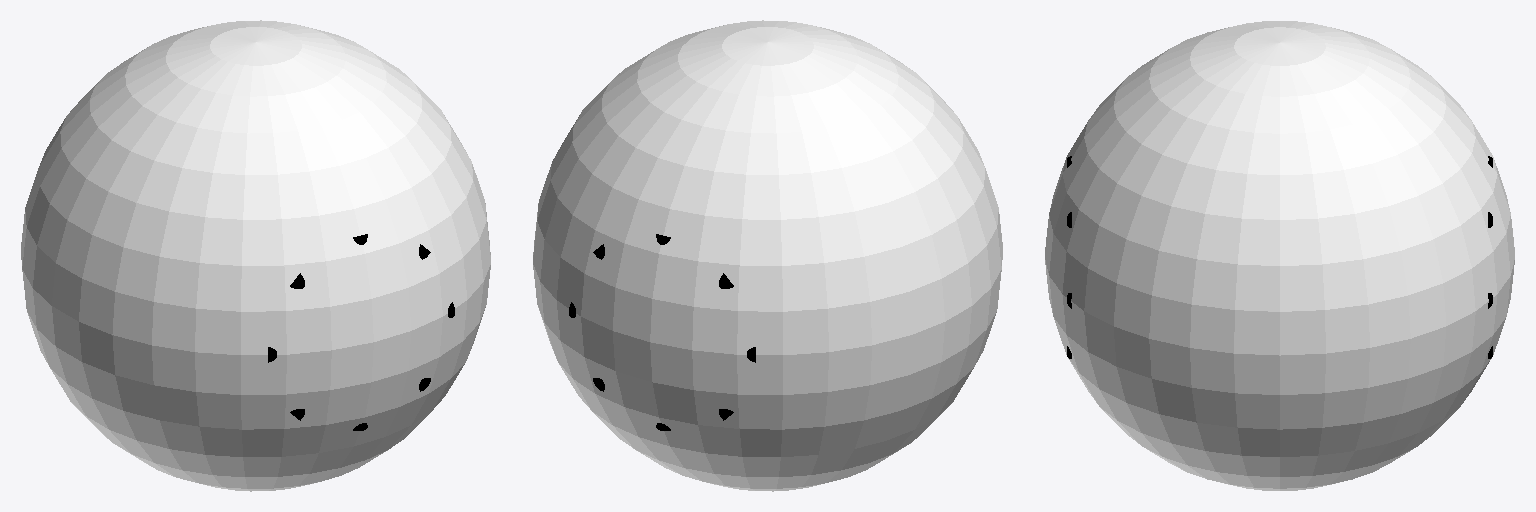
--- What the picture shows (computed from the rendered views, not written in the file) ---
Views: 3 orthographic renders of the robot side by side, from view 1: azimuth 30°, elevation 25°; view 2: azimuth 150°, elevation 25°; view 3: azimuth 270°, elevation 25°.
Robot: daedalus — 73 links, 72 joints (1 revolute, 2 continuous, 48 prismatic, 21 fixed); root link base_link; default pose: all joints at 0.
Visible links, largest first — view 1: sphere; view 2: sphere; view 3: sphere.
Link boxes in pixels (x1,y1,x2,y2): sphere: [21, 20, 490, 491]; sphere: [533, 20, 1002, 491]; sphere: [1045, 21, 1514, 490].
Size in the robot's own frame: 0.464 by 0.464 by 0.464 metres.
Geometry: primitives only (box / cylinder / sphere), no mesh files.

The robot description file, URDF, robot "daedalus":
<?xml version="1.0" ?>
<!-- =================================================================================== -->
<!-- |    This document was autogenerated by xacro from temp.urdf.xacro                | -->
<!-- |    EDITING THIS FILE BY HAND IS NOT RECOMMENDED                                 | -->
<!-- =================================================================================== -->
<robot name="daedalus">
  <self_collide>false</self_collide>
  <!--Define some parameters -->
  <material name="white">
    <color rgba="1 1 1 0.2"/>
  </material>
  <material name="blue">
    <color rgba="0 0 0.8 0.1"/>
  </material>
  <material name="black">
    <color rgba="0 0 0 1"/>
  </material>
  <!--The sphere -->
  <link name="base_link">
    <!--visual>
      <geometry>
        <cylinder radius="0.12" length="0.4"/>
      </geometry>
      <origin rpy="${pi/2.0} 0 0" xyz="0 0 0"/>
      <material name="blue"/>
    </visual-->
    <!--collision>
      <geometry>
        <sphere radius="0.464"/>
      </geometry>
    </collision-->
  </link>
  <link name="sphere">
    <visual>
      <geometry>
        <sphere radius="0.232"/>
      </geometry>
      <material name="white"/>
    </visual>
    <collision>
      <geometry>
        <sphere radius="0.232"/>
      </geometry>
    </collision>
    <inertial>
      <mass value="3"/>
      <inertia ixx="0.10764800000000001" ixy="0.0" ixz="0.0" iyy="0.10764800000000001" iyz="0.0" izz="0.10764800000000001"/>
    </inertial>
  </link>
  <gazebo reference="sphere">
    <mu1 value="200.0"/>
    <mu2 value="100.0"/>
    <kp value="10000000.0"/>
    <kd value="1.0"/>
    <material>Gazebo/GreyTransparent</material>
  </gazebo>
  <link name="filler_link">
    <visual>
      <geometry>
        <!--cylinder radius="0.12" length="0.4"/-->
        <box size=".2 .38 .1"/>
      </geometry>
      <origin rpy="0 0 0" xyz="0 0 0"/>
      <material name="blue"/>
    </visual>
    <inertial>
      <mass value="1"/>
      <inertia ixx=".0145" ixy="0.0" ixz="0" iyy=".0181" iyz="0.0" izz=".006"/>
    </inertial>
  </link>
  <link name="baseplate">
    <visual>
      <geometry>
        <!--cylinder radius="0.12" length="0.4"/-->
        <box size=".2 .38 .1"/>
      </geometry>
      <origin rpy="0 0 0" xyz="0 0 0"/>
      <material name="blue"/>
    </visual>
    <inertial>
      <mass value="30"/>
      <inertia ixx="0.436" ixy="0.0" ixz="0" iyy="0.544" iyz="0.0" izz="0.18"/>
    </inertial>
  </link>
  <joint name="temp_cyl_1" type="continuous">
    <parent link="filler_link"/>
    <child link="inner_outer_connector_right"/>
    <axis rpy="0 0 0" xyz="0 1 0"/>
    <origin xyz="0 0.2 0"/>
    <limit effort="20.0" velocity="10.0"/>
    <joint_properties damping="1000.0" friction="1000.0"/>
    <dynamics damping="100.0" friction="200.0"/>
  </joint>
  <joint name="temp_cyl_2" type="continuous">
    <parent link="filler_link"/>
    <child link="inner_outer_connector_left"/>
    <axis rpy="0 0 0" xyz="0 1 0"/>
    <origin xyz="0 -0.2 0"/>
    <limit effort="20.0" velocity="10.0"/>
    <joint_properties damping="1000.0" friction="1000.0"/>
    <dynamics damping="100.0" friction="200.0"/>
  </joint>
  <joint name="filler" type="fixed">
    <parent link="base_link"/>
    <child link="filler_link"/>
    <origin xyz="0 0 0"/>
  </joint>
  <joint name="base_joint" type="fixed">
    <parent link="base_link"/>
    <child link="baseplate"/>
    <origin xyz="0 0 0"/>
  </joint>
  <transmission name="temp_cyl_1">
    <type>transmission_interface/SimpleTransmission</type>
    <actuator name="$temp_cyl_1">
      <mechanicalReduction>1</mechanicalReduction>
    </actuator>
    <joint name="temp_cyl_1">
      <hardwareInterface>hardware_interface/VelocityJointInterface</hardwareInterface>
    </joint>
  </transmission>
  <transmission name="temp_cyl_2">
    <type>transmission_interface/SimpleTransmission</type>
    <actuator name="$temp_cyl_2">
      <mechanicalReduction>1</mechanicalReduction>
    </actuator>
    <joint name="temp_cyl_2">
      <hardwareInterface>hardware_interface/VelocityJointInterface</hardwareInterface>
    </joint>
  </transmission>
  <joint name="connector_to_sphere_left" type="fixed">
    <parent link="inner_outer_connector_left"/>
    <child link="sphere"/>
    <origin xyz="0 0.2 0"/>
  </joint>
  <!--joint name="connector_to_sphere_right" type="fixed">
     <parent link="inner_outer_connector_right"/>
     <child link="sphere"/>
     <origin xyz="0 -0.2 0"/>
  </joint-->
  <!--link name="hip_base">
    <visual>
      <geometry>
        <cylinder radius="0.24" length="0.8"/>
      </geometry>
      <origin rpy="${pi/2.0} 0 0" xyz="0 0 0"/>
      <material name="blue"/>
    </visual>
    <inertial>
       <mass value="1"/>
       <inertia ixx="1" ixy="0.0" ixz="0" iyy="1" iyz="0.0" izz=".432"/>
    </inertial>
  </link-->
  <!--joint name="center_to_base" type="continuous">
     <parent link="filler_link"/>
     <child link="sphere"/>
     <axis xyz="0 1 0" rpy="0 0 0"/>
     <limit effort="1000.0" velocity="2.0"/>
     <joint_properties damping="1000.0" friction="1000.0"/>
     <dynamics damping="100.0" friction="200.0"/>
  </joint-->
  <!--transmission name="center_to_base">
    <type>transmission_interface/SimpleTransmission</type>
    <actuator name="$center_to_base">
      <mechanicalReduction>1</mechanicalReduction>
    </actuator>
    <joint name="center_to_base">
      <hardwareInterface>hardware_interface/VelocityJointInterface</hardwareInterface>
    </joint>
  </transmission-->
  <!--The battery -->
  <!--link name="battery_holder_1">
    <visual>
      <geometry>
        <sphere radius="0.04"/>
      </geometry>
      <origin rpy="0 0 0" xyz="0 0 0"/>
      <material name="black"/>
    </visual>
    <collision>
      <geometry>
        <sphere radius="0.04"/>
      </geometry>
    </collision>
    <inertial>
       <mass value="${5.0}"/>
       <inertia ixx="${2.0/3.0*5.0*0.04*0.04}" ixy="0.0" ixz="0.0" iyy="${2.0/3.0*5.0*0.04*0.04}" iyz="0.0" izz="${2.0/3.0*5.0*0.04*0.04}"/>
    </inertial>
  </link-->
  <link name="battery_holder">
    <visual>
      <geometry>
        <cylinder length="0.2" radius="0.01"/>
      </geometry>
      <origin rpy="0 0 0" xyz="0 0 -0.07"/>
      <material name="black"/>
    </visual>
    <collision>
      <geometry>
        <cylinder length="0.2" radius="0.01"/>
      </geometry>
    </collision>
    <inertial>
      <mass value="1"/>
      <inertia ixx="0.019" ixy="0.0" ixz="0.0" iyy="0.019" iyz="0.0" izz="0"/>
    </inertial>
    <!--xacro:default_inertial mass="1"/-->
  </link>
  <link name="battery">
    <visual>
      <geometry>
        <box size="0.1 0.1 0.05"/>
      </geometry>
      <origin rpy="0 0 0" xyz="0 0 0"/>
      <material name="black"/>
    </visual>
    <inertial>
      <mass value="10.0"/>
      <inertia ixx="0.01666666666666667" ixy="0.0" ixz="0.0" iyy="0.01666666666666667" iyz="0.0" izz="0.01041666666666667"/>
    </inertial>
    <collision>
      <geometry>
        <box size="0.1 0.1 0.05"/>
      </geometry>
    </collision>
  </link>
  <joint name="battery_joint" type="fixed">
    <parent link="battery_holder"/>
    <child link="battery"/>
    <origin xyz="0 0 -0.175"/>
  </joint>
  <!--joint name="battery_pitch" type="continuous">
     <axis xyz="0 1 0" rpy="0 0 0"/>
     <parent link="sphere"/>
     <child link="battery_holder_1"/>
     <origin xyz="0 0 0" rpy="0 0 0"/>
     <limit effort="1000.0" velocity="10.0"/>
     <joint_properties damping="1000.0" friction="1000.0"/>
     <dynamics damping="100.0" friction="200.0" />
  </joint-->
  <joint name="battery_yaw" type="revolute">
    <parent link="baseplate"/>
    <axis xyz="1 0 0"/>
    <child link="battery_holder"/>
    <limit effort="1000.0" lower="-0.7853981633974483" upper="0.7853981633974483" velocity="0.5"/>
    <origin xyz="0 0 0"/>
    <joint_properties damping="1000.0" friction="1000.0"/>
    <dynamics damping="100.0" friction="200.0"/>
  </joint>
  <!--transmission name="battery_holder_1_trans">
    <type>transmission_interface/SimpleTransmission</type>
    <actuator name="$battery_holder_1__motor">
      <mechanicalReduction>1</mechanicalReduction>
    </actuator>
    <joint name="battery_pitch">
      <hardwareInterface>hardware_interface/VelocityJointInterface</hardwareInterface>
    </joint>
  </transmission-->
  <transmission name="battery_holder_trans">
    <type>transmission_interface/SimpleTransmission</type>
    <actuator name="$battery_holder__motor">
      <mechanicalReduction>1</mechanicalReduction>
    </actuator>
    <joint name="battery_yaw">
      <hardwareInterface>hardware_interface/PositionJointInterface</hardwareInterface>
    </joint>
  </transmission>
  <link name="inner_outer_connector_right">
    <visual>
      <geometry>
        <cylinder length="0.025" radius="0.05"/>
      </geometry>
      <material name="black"/>
      <origin rpy="1.57 0 0" xyz="0 0 0"/>
    </visual>
    <collision>
      <geometry>
        <cylinder length="0.025" radius="0.05"/>
        <origin rpy="1.57 0 0" xyz="0 0 0"/>
      </geometry>
    </collision>
    <inertial>
      <mass value="0.3"/>
      <!--inertia ixx="0.0008125" ixy="0.0" ixz="0.0" iyy="0.0008125" iyz="0.0" izz="0.0015"/-->
      <inertia ixx="1" ixy="0.0" ixz="0.0" iyy="1" iyz="0.0" izz="1"/>
    </inertial>
  </link>
  <link name="inner_outer_connector_left">
    <visual>
      <geometry>
        <cylinder length="0.025" radius="0.05"/>
      </geometry>
      <material name="black"/>
      <origin rpy="1.57 0 0" xyz="0 0 0"/>
    </visual>
    <collision>
      <geometry>
        <cylinder length="0.025" radius="0.05"/>
        <origin rpy="1.57 0 0" xyz="0 0 0"/>
      </geometry>
    </collision>
    <inertial>
      <mass value="0.3"/>
      <!--inertia ixx="0.0008125" ixy="0.0" ixz="0.0" iyy="0.0008125" iyz="0.0" izz="0.0015"/-->
      <inertia ixx="1" ixy="0.0" ixz="0.0" iyy="1" iyz="0.0" izz="1"/>
    </inertial>
  </link>
  <!--The rods -->
  <link name="hip_right_0">
    <visual>
      <geometry>
        <cylinder length="0.07" radius="0.01"/>
      </geometry>
      <material name="black"/>
    </visual>
    <collision>
      <geometry>
        <cylinder length="0.07" radius="0.01"/>
      </geometry>
    </collision>
    <inertial>
      <mass value="0.01"/>
      <inertia ixx="4.083333333333334e-06" ixy="0.0" ixz="0.0" iyy="0.0" iyz="0.0" izz="4.083333333333334e-06"/>
    </inertial>
  </link>
  <link name="outer_leg_right_0">
    <visual>
      <geometry>
        <cylinder length="0.07" radius="0.008"/>
      </geometry>
      <material name="black"/>
    </visual>
    <collision>
      <geometry>
        <cylinder length="0.07" radius="0.008"/>
      </geometry>
    </collision>
    <inertial>
      <mass value="0.008"/>
      <inertia ixx="3.2666666666666674e-06" ixy="0.0" ixz="0.0" iyy="0.0" iyz="0.0" izz="3.2666666666666674e-06"/>
    </inertial>
  </link>
  <link name="center_leg_right_0">
    <visual>
      <geometry>
        <cylinder length="0.07" radius="0.006"/>
      </geometry>
      <material name="black"/>
    </visual>
    <collision>
      <geometry>
        <cylinder length="0.07" radius="0.006"/>
      </geometry>
    </collision>
    <inertial>
      <mass value="0.006"/>
      <inertia ixx="2.45e-06" ixy="0.0" ixz="0.0" iyy="2.45e-06" iyz="0.0" izz="0.0"/>
    </inertial>
  </link>
  <link name="inner_leg_right_0">
    <visual>
      <geometry>
        <cylinder length="0.07" radius="0.004"/>
      </geometry>
      <material name="black"/>
    </visual>
    <collision>
      <geometry>
        <cylinder length="0.07" radius="0.004"/>
      </geometry>
    </collision>
    <inertial>
      <mass value="0.004"/>
      <inertia ixx="1.6333333333333337e-06" ixy="0.0" ixz="0.0" iyy="1.6333333333333337e-06" iyz="0.0" izz="0.0"/>
    </inertial>
  </link>
  <joint name="base_to_hip_right_0" type="fixed">
    <parent link="inner_outer_connector_right"/>
    <child link="hip_right_0"/>
    <origin rpy="0 0.0 0" xyz="0.0 0 0.07"/>
  </joint>
  <!--
    <joint name="outer_to_center_leg_${prefix}" type="fixed">
       <parent link="outer_leg_${prefix}"/>
       <child link="center_leg_${prefix}"/>
       <origin xyz="0 0 0.02"/>
    </joint>
    <joint name="center_to_inner_leg_${prefix}" type="fixed">
       <parent link="center_leg_${prefix}"/>
       <child link="inner_leg_${prefix}"/>
       <origin xyz="0 0 0.02"/>
    </joint>
    -->
  <joint name="hip_to_outer_leg_right_0" type="prismatic">
    <axis xyz="0 0 1"/>
    <parent link="hip_right_0"/>
    <child link="outer_leg_right_0"/>
    <limit effort="200.0" lower="0.0" upper="0.07" velocity="0.1"/>
    <origin rpy="0 0 0" xyz="0 0 0"/>
    <dynamics damping="100.0" friction="200.0"/>
  </joint>
  <joint name="outer_to_center_leg_right_0" type="prismatic">
    <axis xyz="0 0 1"/>
    <parent link="outer_leg_right_0"/>
    <child link="center_leg_right_0"/>
    <limit effort="2000.0" lower="0.0" upper="0.07" velocity="0.1"/>
    <origin rpy="0 0 0" xyz="0 0 0"/>
    <dynamics damping="100.0" friction="200.0"/>
  </joint>
  <joint name="center_to_inner_leg_right_0" type="prismatic">
    <axis xyz="0 0 1"/>
    <parent link="center_leg_right_0"/>
    <child link="inner_leg_right_0"/>
    <limit effort="2000.0" lower="0.0" upper="0.07" velocity="0.1"/>
    <origin rpy="0 0 0" xyz="0 0 0"/>
    <dynamics damping="100.0" friction="200.0"/>
  </joint>
  <!--transmission name="base_to_hip_${prefix}">
      <type>transmission_interface/SimpleTransmission</type>
      <actuator name="$base_to_hip_${prefix}">
        <mechanicalReduction>1</mechanicalReduction>
      </actuator>
      <joint name="base_to_hip_${prefix}">
        <hardwareInterface>hardware_interface/VelocityJointInterface</hardwareInterface>
      </joint>
    </transmission-->
  <transmission name="outer_leg_extension_right_0_trans" type="SimpleTransmission">
    <type>transmission_interface/SimpleTransmission</type>
    <actuator name="outer_leg_extension_right_0_motor">
      <hardwareInterface>hardware_interface/PositionJointInterface</hardwareInterface>
      <mechanicalReduction>1</mechanicalReduction>
    </actuator>
    <joint name="hip_to_outer_leg_right_0">
      <hardwareInterface>hardware_interface/PositionJointInterface</hardwareInterface>
    </joint>
  </transmission>
  <transmission name="center_leg_extension_right_0_trans" type="SimpleTransmission">
    <type>transmission_interface/SimpleTransmission</type>
    <actuator name="center_leg_extension_right_0_motor">
      <hardwareInterface>hardware_interface/PositionJointInterface</hardwareInterface>
      <mechanicalReduction>1</mechanicalReduction>
    </actuator>
    <joint name="outer_to_center_leg_right_0">
      <hardwareInterface>hardware_interface/PositionJointInterface</hardwareInterface>
    </joint>
  </transmission>
  <transmission name="inner_leg_extension_right_0_trans" type="SimpleTransmission">
    <type>transmission_interface/SimpleTransmission</type>
    <actuator name="inner_leg_extension_right_0_motor">
      <hardwareInterface>hardware_interface/PositionJointInterface</hardwareInterface>
      <mechanicalReduction>1</mechanicalReduction>
    </actuator>
    <joint name="center_to_inner_leg_right_0">
      <hardwareInterface>hardware_interface/PositionJointInterface</hardwareInterface>
    </joint>
  </transmission>
  <link name="hip_right_2">
    <visual>
      <geometry>
        <cylinder length="0.07" radius="0.01"/>
      </geometry>
      <material name="black"/>
    </visual>
    <collision>
      <geometry>
        <cylinder length="0.07" radius="0.01"/>
      </geometry>
    </collision>
    <inertial>
      <mass value="0.01"/>
      <inertia ixx="4.083333333333334e-06" ixy="0.0" ixz="0.0" iyy="0.0" iyz="0.0" izz="4.083333333333334e-06"/>
    </inertial>
  </link>
  <link name="outer_leg_right_2">
    <visual>
      <geometry>
        <cylinder length="0.07" radius="0.008"/>
      </geometry>
      <material name="black"/>
    </visual>
    <collision>
      <geometry>
        <cylinder length="0.07" radius="0.008"/>
      </geometry>
    </collision>
    <inertial>
      <mass value="0.008"/>
      <inertia ixx="3.2666666666666674e-06" ixy="0.0" ixz="0.0" iyy="0.0" iyz="0.0" izz="3.2666666666666674e-06"/>
    </inertial>
  </link>
  <link name="center_leg_right_2">
    <visual>
      <geometry>
        <cylinder length="0.07" radius="0.006"/>
      </geometry>
      <material name="black"/>
    </visual>
    <collision>
      <geometry>
        <cylinder length="0.07" radius="0.006"/>
      </geometry>
    </collision>
    <inertial>
      <mass value="0.006"/>
      <inertia ixx="2.45e-06" ixy="0.0" ixz="0.0" iyy="2.45e-06" iyz="0.0" izz="0.0"/>
    </inertial>
  </link>
  <link name="inner_leg_right_2">
    <visual>
      <geometry>
        <cylinder length="0.07" radius="0.004"/>
      </geometry>
      <material name="black"/>
    </visual>
    <collision>
      <geometry>
        <cylinder length="0.07" radius="0.004"/>
      </geometry>
    </collision>
    <inertial>
      <mass value="0.004"/>
      <inertia ixx="1.6333333333333337e-06" ixy="0.0" ixz="0.0" iyy="1.6333333333333337e-06" iyz="0.0" izz="0.0"/>
    </inertial>
  </link>
  <joint name="base_to_hip_right_2" type="fixed">
    <parent link="inner_outer_connector_right"/>
    <child link="hip_right_2"/>
    <origin rpy="0 1.5707963267948966 0" xyz="0.07 0 4.286263797015737e-18"/>
  </joint>
  <!--
    <joint name="outer_to_center_leg_${prefix}" type="fixed">
       <parent link="outer_leg_${prefix}"/>
       <child link="center_leg_${prefix}"/>
       <origin xyz="0 0 0.02"/>
    </joint>
    <joint name="center_to_inner_leg_${prefix}" type="fixed">
       <parent link="center_leg_${prefix}"/>
       <child link="inner_leg_${prefix}"/>
       <origin xyz="0 0 0.02"/>
    </joint>
    -->
  <joint name="hip_to_outer_leg_right_2" type="prismatic">
    <axis xyz="0 0 1"/>
    <parent link="hip_right_2"/>
    <child link="outer_leg_right_2"/>
    <limit effort="200.0" lower="0.0" upper="0.07" velocity="0.1"/>
    <origin rpy="0 0 0" xyz="0 0 0"/>
    <dynamics damping="100.0" friction="200.0"/>
  </joint>
  <joint name="outer_to_center_leg_right_2" type="prismatic">
    <axis xyz="0 0 1"/>
    <parent link="outer_leg_right_2"/>
    <child link="center_leg_right_2"/>
    <limit effort="2000.0" lower="0.0" upper="0.07" velocity="0.1"/>
    <origin rpy="0 0 0" xyz="0 0 0"/>
    <dynamics damping="100.0" friction="200.0"/>
  </joint>
  <joint name="center_to_inner_leg_right_2" type="prismatic">
    <axis xyz="0 0 1"/>
    <parent link="center_leg_right_2"/>
    <child link="inner_leg_right_2"/>
    <limit effort="2000.0" lower="0.0" upper="0.07" velocity="0.1"/>
    <origin rpy="0 0 0" xyz="0 0 0"/>
    <dynamics damping="100.0" friction="200.0"/>
  </joint>
  <!--transmission name="base_to_hip_${prefix}">
      <type>transmission_interface/SimpleTransmission</type>
      <actuator name="$base_to_hip_${prefix}">
        <mechanicalReduction>1</mechanicalReduction>
      </actuator>
      <joint name="base_to_hip_${prefix}">
        <hardwareInterface>hardware_interface/VelocityJointInterface</hardwareInterface>
      </joint>
    </transmission-->
  <transmission name="outer_leg_extension_right_2_trans" type="SimpleTransmission">
    <type>transmission_interface/SimpleTransmission</type>
    <actuator name="outer_leg_extension_right_2_motor">
      <hardwareInterface>hardware_interface/PositionJointInterface</hardwareInterface>
      <mechanicalReduction>1</mechanicalReduction>
    </actuator>
    <joint name="hip_to_outer_leg_right_2">
      <hardwareInterface>hardware_interface/PositionJointInterface</hardwareInterface>
    </joint>
  </transmission>
  <transmission name="center_leg_extension_right_2_trans" type="SimpleTransmission">
    <type>transmission_interface/SimpleTransmission</type>
    <actuator name="center_leg_extension_right_2_motor">
      <hardwareInterface>hardware_interface/PositionJointInterface</hardwareInterface>
      <mechanicalReduction>1</mechanicalReduction>
    </actuator>
    <joint name="outer_to_center_leg_right_2">
      <hardwareInterface>hardware_interface/PositionJointInterface</hardwareInterface>
    </joint>
  </transmission>
  <transmission name="inner_leg_extension_right_2_trans" type="SimpleTransmission">
    <type>transmission_interface/SimpleTransmission</type>
    <actuator name="inner_leg_extension_right_2_motor">
      <hardwareInterface>hardware_interface/PositionJointInterface</hardwareInterface>
      <mechanicalReduction>1</mechanicalReduction>
    </actuator>
    <joint name="center_to_inner_leg_right_2">
      <hardwareInterface>hardware_interface/PositionJointInterface</hardwareInterface>
    </joint>
  </transmission>
  <link name="hip_right_4">
    <visual>
      <geometry>
        <cylinder length="0.07" radius="0.01"/>
      </geometry>
      <material name="black"/>
    </visual>
    <collision>
      <geometry>
        <cylinder length="0.07" radius="0.01"/>
      </geometry>
    </collision>
    <inertial>
      <mass value="0.01"/>
      <inertia ixx="4.083333333333334e-06" ixy="0.0" ixz="0.0" iyy="0.0" iyz="0.0" izz="4.083333333333334e-06"/>
    </inertial>
  </link>
  <link name="outer_leg_right_4">
    <visual>
      <geometry>
        <cylinder length="0.07" radius="0.008"/>
      </geometry>
      <material name="black"/>
    </visual>
    <collision>
      <geometry>
        <cylinder length="0.07" radius="0.008"/>
      </geometry>
    </collision>
    <inertial>
      <mass value="0.008"/>
      <inertia ixx="3.2666666666666674e-06" ixy="0.0" ixz="0.0" iyy="0.0" iyz="0.0" izz="3.2666666666666674e-06"/>
    </inertial>
  </link>
  <link name="center_leg_right_4">
    <visual>
      <geometry>
        <cylinder length="0.07" radius="0.006"/>
      </geometry>
      <material name="black"/>
    </visual>
    <collision>
      <geometry>
        <cylinder length="0.07" radius="0.006"/>
      </geometry>
    </collision>
    <inertial>
      <mass value="0.006"/>
      <inertia ixx="2.45e-06" ixy="0.0" ixz="0.0" iyy="2.45e-06" iyz="0.0" izz="0.0"/>
    </inertial>
  </link>
  <link name="inner_leg_right_4">
    <visual>
      <geometry>
        <cylinder length="0.07" radius="0.004"/>
      </geometry>
      <material name="black"/>
    </visual>
    <collision>
      <geometry>
        <cylinder length="0.07" radius="0.004"/>
      </geometry>
    </collision>
    <inertial>
      <mass value="0.004"/>
      <inertia ixx="1.6333333333333337e-06" ixy="0.0" ixz="0.0" iyy="1.6333333333333337e-06" iyz="0.0" izz="0.0"/>
    </inertial>
  </link>
  <joint name="base_to_hip_right_4" type="fixed">
    <parent link="inner_outer_connector_right"/>
    <child link="hip_right_4"/>
    <origin rpy="0 3.141592653589793 0" xyz="8.572527594031473e-18 0 -0.07"/>
  </joint>
  <!--
    <joint name="outer_to_center_leg_${prefix}" type="fixed">
       <parent link="outer_leg_${prefix}"/>
       <child link="center_leg_${prefix}"/>
       <origin xyz="0 0 0.02"/>
    </joint>
    <joint name="center_to_inner_leg_${prefix}" type="fixed">
       <parent link="center_leg_${prefix}"/>
       <child link="inner_leg_${prefix}"/>
       <origin xyz="0 0 0.02"/>
    </joint>
    -->
  <joint name="hip_to_outer_leg_right_4" type="prismatic">
    <axis xyz="0 0 1"/>
    <parent link="hip_right_4"/>
    <child link="outer_leg_right_4"/>
    <limit effort="200.0" lower="0.0" upper="0.07" velocity="0.1"/>
    <origin rpy="0 0 0" xyz="0 0 0"/>
    <dynamics damping="100.0" friction="200.0"/>
  </joint>
  <joint name="outer_to_center_leg_right_4" type="prismatic">
    <axis xyz="0 0 1"/>
    <parent link="outer_leg_right_4"/>
    <child link="center_leg_right_4"/>
    <limit effort="2000.0" lower="0.0" upper="0.07" velocity="0.1"/>
    <origin rpy="0 0 0" xyz="0 0 0"/>
    <dynamics damping="100.0" friction="200.0"/>
  </joint>
  <joint name="center_to_inner_leg_right_4" type="prismatic">
    <axis xyz="0 0 1"/>
    <parent link="center_leg_right_4"/>
    <child link="inner_leg_right_4"/>
    <limit effort="2000.0" lower="0.0" upper="0.07" velocity="0.1"/>
    <origin rpy="0 0 0" xyz="0 0 0"/>
    <dynamics damping="100.0" friction="200.0"/>
  </joint>
  <!--transmission name="base_to_hip_${prefix}">
      <type>transmission_interface/SimpleTransmission</type>
      <actuator name="$base_to_hip_${prefix}">
        <mechanicalReduction>1</mechanicalReduction>
      </actuator>
      <joint name="base_to_hip_${prefix}">
        <hardwareInterface>hardware_interface/VelocityJointInterface</hardwareInterface>
      </joint>
    </transmission-->
  <transmission name="outer_leg_extension_right_4_trans" type="SimpleTransmission">
    <type>transmission_interface/SimpleTransmission</type>
    <actuator name="outer_leg_extension_right_4_motor">
      <hardwareInterface>hardware_interface/PositionJointInterface</hardwareInterface>
      <mechanicalReduction>1</mechanicalReduction>
    </actuator>
    <joint name="hip_to_outer_leg_right_4">
      <hardwareInterface>hardware_interface/PositionJointInterface</hardwareInterface>
    </joint>
  </transmission>
  <transmission name="center_leg_extension_right_4_trans" type="SimpleTransmission">
    <type>transmission_interface/SimpleTransmission</type>
    <actuator name="center_leg_extension_right_4_motor">
      <hardwareInterface>hardware_interface/PositionJointInterface</hardwareInterface>
      <mechanicalReduction>1</mechanicalReduction>
    </actuator>
    <joint name="outer_to_center_leg_right_4">
      <hardwareInterface>hardware_interface/PositionJointInterface</hardwareInterface>
    </joint>
  </transmission>
  <transmission name="inner_leg_extension_right_4_trans" type="SimpleTransmission">
    <type>transmission_interface/SimpleTransmission</type>
    <actuator name="inner_leg_extension_right_4_motor">
      <hardwareInterface>hardware_interface/PositionJointInterface</hardwareInterface>
      <mechanicalReduction>1</mechanicalReduction>
    </actuator>
    <joint name="center_to_inner_leg_right_4">
      <hardwareInterface>hardware_interface/PositionJointInterface</hardwareInterface>
    </joint>
  </transmission>
  <link name="hip_right_6">
    <visual>
      <geometry>
        <cylinder length="0.07" radius="0.01"/>
      </geometry>
      <material name="black"/>
    </visual>
    <collision>
      <geometry>
        <cylinder length="0.07" radius="0.01"/>
      </geometry>
    </collision>
    <inertial>
      <mass value="0.01"/>
      <inertia ixx="4.083333333333334e-06" ixy="0.0" ixz="0.0" iyy="0.0" iyz="0.0" izz="4.083333333333334e-06"/>
    </inertial>
  </link>
  <link name="outer_leg_right_6">
    <visual>
      <geometry>
        <cylinder length="0.07" radius="0.008"/>
      </geometry>
      <material name="black"/>
    </visual>
    <collision>
      <geometry>
        <cylinder length="0.07" radius="0.008"/>
      </geometry>
    </collision>
    <inertial>
      <mass value="0.008"/>
      <inertia ixx="3.2666666666666674e-06" ixy="0.0" ixz="0.0" iyy="0.0" iyz="0.0" izz="3.2666666666666674e-06"/>
    </inertial>
  </link>
  <link name="center_leg_right_6">
    <visual>
      <geometry>
        <cylinder length="0.07" radius="0.006"/>
      </geometry>
      <material name="black"/>
    </visual>
    <collision>
      <geometry>
        <cylinder length="0.07" radius="0.006"/>
      </geometry>
    </collision>
    <inertial>
      <mass value="0.006"/>
      <inertia ixx="2.45e-06" ixy="0.0" ixz="0.0" iyy="2.45e-06" iyz="0.0" izz="0.0"/>
    </inertial>
  </link>
  <link name="inner_leg_right_6">
    <visual>
      <geometry>
        <cylinder length="0.07" radius="0.004"/>
      </geometry>
      <material name="black"/>
    </visual>
    <collision>
      <geometry>
        <cylinder length="0.07" radius="0.004"/>
      </geometry>
    </collision>
    <inertial>
      <mass value="0.004"/>
      <inertia ixx="1.6333333333333337e-06" ixy="0.0" ixz="0.0" iyy="1.6333333333333337e-06" iyz="0.0" izz="0.0"/>
    </inertial>
  </link>
  <joint name="base_to_hip_right_6" type="fixed">
    <parent link="inner_outer_connector_right"/>
    <child link="hip_right_6"/>
    <origin rpy="0 4.71238898038469 0" xyz="-0.07 0 -1.285879139104721e-17"/>
  </joint>
  <!--
    <joint name="outer_to_center_leg_${prefix}" type="fixed">
       <parent link="outer_leg_${prefix}"/>
       <child link="center_leg_${prefix}"/>
       <origin xyz="0 0 0.02"/>
    </joint>
    <joint name="center_to_inner_leg_${prefix}" type="fixed">
       <parent link="center_leg_${prefix}"/>
       <child link="inner_leg_${prefix}"/>
       <origin xyz="0 0 0.02"/>
    </joint>
    -->
  <joint name="hip_to_outer_leg_right_6" type="prismatic">
    <axis xyz="0 0 1"/>
    <parent link="hip_right_6"/>
    <child link="outer_leg_right_6"/>
    <limit effort="200.0" lower="0.0" upper="0.07" velocity="0.1"/>
    <origin rpy="0 0 0" xyz="0 0 0"/>
    <dynamics damping="100.0" friction="200.0"/>
  </joint>
  <joint name="outer_to_center_leg_right_6" type="prismatic">
    <axis xyz="0 0 1"/>
    <parent link="outer_leg_right_6"/>
    <child link="center_leg_right_6"/>
    <limit effort="2000.0" lower="0.0" upper="0.07" velocity="0.1"/>
    <origin rpy="0 0 0" xyz="0 0 0"/>
    <dynamics damping="100.0" friction="200.0"/>
  </joint>
  <joint name="center_to_inner_leg_right_6" type="prismatic">
    <axis xyz="0 0 1"/>
    <parent link="center_leg_right_6"/>
    <child link="inner_leg_right_6"/>
    <limit effort="2000.0" lower="0.0" upper="0.07" velocity="0.1"/>
    <origin rpy="0 0 0" xyz="0 0 0"/>
    <dynamics damping="100.0" friction="200.0"/>
  </joint>
  <!--transmission name="base_to_hip_${prefix}">
      <type>transmission_interface/SimpleTransmission</type>
      <actuator name="$base_to_hip_${prefix}">
        <mechanicalReduction>1</mechanicalReduction>
      </actuator>
      <joint name="base_to_hip_${prefix}">
        <hardwareInterface>hardware_interface/VelocityJointInterface</hardwareInterface>
      </joint>
    </transmission-->
  <transmission name="outer_leg_extension_right_6_trans" type="SimpleTransmission">
    <type>transmission_interface/SimpleTransmission</type>
    <actuator name="outer_leg_extension_right_6_motor">
      <hardwareInterface>hardware_interface/PositionJointInterface</hardwareInterface>
      <mechanicalReduction>1</mechanicalReduction>
    </actuator>
    <joint name="hip_to_outer_leg_right_6">
      <hardwareInterface>hardware_interface/PositionJointInterface</hardwareInterface>
    </joint>
  </transmission>
  <transmission name="center_leg_extension_right_6_trans" type="SimpleTransmission">
    <type>transmission_interface/SimpleTransmission</type>
    <actuator name="center_leg_extension_right_6_motor">
      <hardwareInterface>hardware_interface/PositionJointInterface</hardwareInterface>
      <mechanicalReduction>1</mechanicalReduction>
    </actuator>
    <joint name="outer_to_center_leg_right_6">
      <hardwareInterface>hardware_interface/PositionJointInterface</hardwareInterface>
    </joint>
  </transmission>
  <transmission name="inner_leg_extension_right_6_trans" type="SimpleTransmission">
    <type>transmission_interface/SimpleTransmission</type>
    <actuator name="inner_leg_extension_right_6_motor">
      <hardwareInterface>hardware_interface/PositionJointInterface</hardwareInterface>
      <mechanicalReduction>1</mechanicalReduction>
    </actuator>
    <joint name="center_to_inner_leg_right_6">
      <hardwareInterface>hardware_interface/PositionJointInterface</hardwareInterface>
    </joint>
  </transmission>
  <link name="hip_right_1">
    <visual>
      <geometry>
        <cylinder length="0.07" radius="0.01"/>
      </geometry>
      <material name="black"/>
    </visual>
    <collision>
      <geometry>
        <cylinder length="0.07" radius="0.01"/>
      </geometry>
    </collision>
    <inertial>
      <mass value="0.01"/>
      <inertia ixx="4.083333333333334e-06" ixy="0.0" ixz="0.0" iyy="0.0" iyz="0.0" izz="4.083333333333334e-06"/>
    </inertial>
  </link>
  <link name="outer_leg_right_1">
    <visual>
      <geometry>
        <cylinder length="0.07" radius="0.008"/>
      </geometry>
      <material name="black"/>
    </visual>
    <collision>
      <geometry>
        <cylinder length="0.07" radius="0.008"/>
      </geometry>
    </collision>
    <inertial>
      <mass value="0.008"/>
      <inertia ixx="3.2666666666666674e-06" ixy="0.0" ixz="0.0" iyy="0.0" iyz="0.0" izz="3.2666666666666674e-06"/>
    </inertial>
  </link>
  <link name="center_leg_right_1">
    <visual>
      <geometry>
        <cylinder length="0.07" radius="0.006"/>
      </geometry>
      <material name="black"/>
    </visual>
    <collision>
      <geometry>
        <cylinder length="0.07" radius="0.006"/>
      </geometry>
    </collision>
    <inertial>
      <mass value="0.006"/>
      <inertia ixx="2.45e-06" ixy="0.0" ixz="0.0" iyy="2.45e-06" iyz="0.0" izz="0.0"/>
    </inertial>
  </link>
  <link name="inner_leg_right_1">
    <visual>
      <geometry>
        <cylinder length="0.07" radius="0.004"/>
      </geometry>
      <material name="black"/>
    </visual>
    <collision>
      <geometry>
        <cylinder length="0.07" radius="0.004"/>
      </geometry>
    </collision>
    <inertial>
      <mass value="0.004"/>
      <inertia ixx="1.6333333333333337e-06" ixy="0.0" ixz="0.0" iyy="1.6333333333333337e-06" iyz="0.0" izz="0.0"/>
    </inertial>
  </link>
  <joint name="base_to_hip_right_1" type="fixed">
    <parent link="inner_outer_connector_right"/>
    <child link="hip_right_1"/>
    <origin rpy="0 0.7853981633974483 0" xyz="0.049497474683058325 0 0.04949747468305833"/>
  </joint>
  <!--
    <joint name="outer_to_center_leg_${prefix}" type="fixed">
       <parent link="outer_leg_${prefix}"/>
       <child link="center_leg_${prefix}"/>
       <origin xyz="0 0 0.02"/>
    </joint>
    <joint name="center_to_inner_leg_${prefix}" type="fixed">
       <parent link="center_leg_${prefix}"/>
       <child link="inner_leg_${prefix}"/>
       <origin xyz="0 0 0.02"/>
    </joint>
    -->
  <joint name="hip_to_outer_leg_right_1" type="prismatic">
    <axis xyz="0 0 1"/>
    <parent link="hip_right_1"/>
    <child link="outer_leg_right_1"/>
    <limit effort="200.0" lower="0.0" upper="0.07" velocity="0.1"/>
    <origin rpy="0 0 0" xyz="0 0 0"/>
    <dynamics damping="100.0" friction="200.0"/>
  </joint>
  <joint name="outer_to_center_leg_right_1" type="prismatic">
    <axis xyz="0 0 1"/>
    <parent link="outer_leg_right_1"/>
    <child link="center_leg_right_1"/>
    <limit effort="2000.0" lower="0.0" upper="0.07" velocity="0.1"/>
    <origin rpy="0 0 0" xyz="0 0 0"/>
    <dynamics damping="100.0" friction="200.0"/>
  </joint>
  <joint name="center_to_inner_leg_right_1" type="prismatic">
    <axis xyz="0 0 1"/>
    <parent link="center_leg_right_1"/>
    <child link="inner_leg_right_1"/>
    <limit effort="2000.0" lower="0.0" upper="0.07" velocity="0.1"/>
    <origin rpy="0 0 0" xyz="0 0 0"/>
    <dynamics damping="100.0" friction="200.0"/>
  </joint>
  <!--transmission name="base_to_hip_${prefix}">
      <type>transmission_interface/SimpleTransmission</type>
      <actuator name="$base_to_hip_${prefix}">
        <mechanicalReduction>1</mechanicalReduction>
      </actuator>
      <joint name="base_to_hip_${prefix}">
        <hardwareInterface>hardware_interface/VelocityJointInterface</hardwareInterface>
      </joint>
    </transmission-->
  <transmission name="outer_leg_extension_right_1_trans" type="SimpleTransmission">
    <type>transmission_interface/SimpleTransmission</type>
    <actuator name="outer_leg_extension_right_1_motor">
      <hardwareInterface>hardware_interface/PositionJointInterface</hardwareInterface>
      <mechanicalReduction>1</mechanicalReduction>
    </actuator>
    <joint name="hip_to_outer_leg_right_1">
      <hardwareInterface>hardware_interface/PositionJointInterface</hardwareInterface>
    </joint>
  </transmission>
  <transmission name="center_leg_extension_right_1_trans" type="SimpleTransmission">
    <type>transmission_interface/SimpleTransmission</type>
    <actuator name="center_leg_extension_right_1_motor">
      <hardwareInterface>hardware_interface/PositionJointInterface</hardwareInterface>
      <mechanicalReduction>1</mechanicalReduction>
    </actuator>
    <joint name="outer_to_center_leg_right_1">
      <hardwareInterface>hardware_interface/PositionJointInterface</hardwareInterface>
    </joint>
  </transmission>
  <transmission name="inner_leg_extension_right_1_trans" type="SimpleTransmission">
    <type>transmission_interface/SimpleTransmission</type>
    <actuator name="inner_leg_extension_right_1_motor">
      <hardwareInterface>hardware_interface/PositionJointInterface</hardwareInterface>
      <mechanicalReduction>1</mechanicalReduction>
    </actuator>
    <joint name="center_to_inner_leg_right_1">
      <hardwareInterface>hardware_interface/PositionJointInterface</hardwareInterface>
    </joint>
  </transmission>
  <link name="hip_right_3">
    <visual>
      <geometry>
        <cylinder length="0.07" radius="0.01"/>
      </geometry>
      <material name="black"/>
    </visual>
    <collision>
      <geometry>
        <cylinder length="0.07" radius="0.01"/>
      </geometry>
    </collision>
    <inertial>
      <mass value="0.01"/>
      <inertia ixx="4.083333333333334e-06" ixy="0.0" ixz="0.0" iyy="0.0" iyz="0.0" izz="4.083333333333334e-06"/>
    </inertial>
  </link>
  <link name="outer_leg_right_3">
    <visual>
      <geometry>
        <cylinder length="0.07" radius="0.008"/>
      </geometry>
      <material name="black"/>
    </visual>
    <collision>
      <geometry>
        <cylinder length="0.07" radius="0.008"/>
      </geometry>
    </collision>
    <inertial>
      <mass value="0.008"/>
      <inertia ixx="3.2666666666666674e-06" ixy="0.0" ixz="0.0" iyy="0.0" iyz="0.0" izz="3.2666666666666674e-06"/>
    </inertial>
  </link>
  <link name="center_leg_right_3">
    <visual>
      <geometry>
        <cylinder length="0.07" radius="0.006"/>
      </geometry>
      <material name="black"/>
    </visual>
    <collision>
      <geometry>
        <cylinder length="0.07" radius="0.006"/>
      </geometry>
    </collision>
    <inertial>
      <mass value="0.006"/>
      <inertia ixx="2.45e-06" ixy="0.0" ixz="0.0" iyy="2.45e-06" iyz="0.0" izz="0.0"/>
    </inertial>
  </link>
  <link name="inner_leg_right_3">
    <visual>
      <geometry>
        <cylinder length="0.07" radius="0.004"/>
      </geometry>
      <material name="black"/>
    </visual>
    <collision>
      <geometry>
        <cylinder length="0.07" radius="0.004"/>
      </geometry>
    </collision>
    <inertial>
      <mass value="0.004"/>
      <inertia ixx="1.6333333333333337e-06" ixy="0.0" ixz="0.0" iyy="1.6333333333333337e-06" iyz="0.0" izz="0.0"/>
    </inertial>
  </link>
  <joint name="base_to_hip_right_3" type="fixed">
    <parent link="inner_outer_connector_right"/>
    <child link="hip_right_3"/>
    <origin rpy="0 2.356194490192345 0" xyz="0.04949747468305833 0 -0.049497474683058325"/>
  </joint>
  <!--
    <joint name="outer_to_center_leg_${prefix}" type="fixed">
       <parent link="outer_leg_${prefix}"/>
       <child link="center_leg_${prefix}"/>
       <origin xyz="0 0 0.02"/>
    </joint>
    <joint name="center_to_inner_leg_${prefix}" type="fixed">
       <parent link="center_leg_${prefix}"/>
       <child link="inner_leg_${prefix}"/>
       <origin xyz="0 0 0.02"/>
    </joint>
    -->
  <joint name="hip_to_outer_leg_right_3" type="prismatic">
    <axis xyz="0 0 1"/>
    <parent link="hip_right_3"/>
    <child link="outer_leg_right_3"/>
    <limit effort="200.0" lower="0.0" upper="0.07" velocity="0.1"/>
    <origin rpy="0 0 0" xyz="0 0 0"/>
    <dynamics damping="100.0" friction="200.0"/>
  </joint>
  <joint name="outer_to_center_leg_right_3" type="prismatic">
    <axis xyz="0 0 1"/>
    <parent link="outer_leg_right_3"/>
    <child link="center_leg_right_3"/>
    <limit effort="2000.0" lower="0.0" upper="0.07" velocity="0.1"/>
    <origin rpy="0 0 0" xyz="0 0 0"/>
    <dynamics damping="100.0" friction="200.0"/>
  </joint>
  <joint name="center_to_inner_leg_right_3" type="prismatic">
    <axis xyz="0 0 1"/>
    <parent link="center_leg_right_3"/>
    <child link="inner_leg_right_3"/>
    <limit effort="2000.0" lower="0.0" upper="0.07" velocity="0.1"/>
    <origin rpy="0 0 0" xyz="0 0 0"/>
    <dynamics damping="100.0" friction="200.0"/>
  </joint>
  <!--transmission name="base_to_hip_${prefix}">
      <type>transmission_interface/SimpleTransmission</type>
      <actuator name="$base_to_hip_${prefix}">
        <mechanicalReduction>1</mechanicalReduction>
      </actuator>
      <joint name="base_to_hip_${prefix}">
        <hardwareInterface>hardware_interface/VelocityJointInterface</hardwareInterface>
      </joint>
    </transmission-->
  <transmission name="outer_leg_extension_right_3_trans" type="SimpleTransmission">
    <type>transmission_interface/SimpleTransmission</type>
    <actuator name="outer_leg_extension_right_3_motor">
      <hardwareInterface>hardware_interface/PositionJointInterface</hardwareInterface>
      <mechanicalReduction>1</mechanicalReduction>
    </actuator>
    <joint name="hip_to_outer_leg_right_3">
      <hardwareInterface>hardware_interface/PositionJointInterface</hardwareInterface>
    </joint>
  </transmission>
  <transmission name="center_leg_extension_right_3_trans" type="SimpleTransmission">
    <type>transmission_interface/SimpleTransmission</type>
    <actuator name="center_leg_extension_right_3_motor">
      <hardwareInterface>hardware_interface/PositionJointInterface</hardwareInterface>
      <mechanicalReduction>1</mechanicalReduction>
    </actuator>
    <joint name="outer_to_center_leg_right_3">
      <hardwareInterface>hardware_interface/PositionJointInterface</hardwareInterface>
    </joint>
  </transmission>
  <transmission name="inner_leg_extension_right_3_trans" type="SimpleTransmission">
    <type>transmission_interface/SimpleTransmission</type>
    <actuator name="inner_leg_extension_right_3_motor">
      <hardwareInterface>hardware_interface/PositionJointInterface</hardwareInterface>
      <mechanicalReduction>1</mechanicalReduction>
    </actuator>
    <joint name="center_to_inner_leg_right_3">
      <hardwareInterface>hardware_interface/PositionJointInterface</hardwareInterface>
    </joint>
  </transmission>
  <link name="hip_right_5">
    <visual>
      <geometry>
        <cylinder length="0.07" radius="0.01"/>
      </geometry>
      <material name="black"/>
    </visual>
    <collision>
      <geometry>
        <cylinder length="0.07" radius="0.01"/>
      </geometry>
    </collision>
    <inertial>
      <mass value="0.01"/>
      <inertia ixx="4.083333333333334e-06" ixy="0.0" ixz="0.0" iyy="0.0" iyz="0.0" izz="4.083333333333334e-06"/>
    </inertial>
  </link>
  <link name="outer_leg_right_5">
    <visual>
      <geometry>
        <cylinder length="0.07" radius="0.008"/>
      </geometry>
      <material name="black"/>
    </visual>
    <collision>
      <geometry>
        <cylinder length="0.07" radius="0.008"/>
      </geometry>
    </collision>
    <inertial>
      <mass value="0.008"/>
      <inertia ixx="3.2666666666666674e-06" ixy="0.0" ixz="0.0" iyy="0.0" iyz="0.0" izz="3.2666666666666674e-06"/>
    </inertial>
  </link>
  <link name="center_leg_right_5">
    <visual>
      <geometry>
        <cylinder length="0.07" radius="0.006"/>
      </geometry>
      <material name="black"/>
    </visual>
    <collision>
      <geometry>
        <cylinder length="0.07" radius="0.006"/>
      </geometry>
    </collision>
    <inertial>
      <mass value="0.006"/>
      <inertia ixx="2.45e-06" ixy="0.0" ixz="0.0" iyy="2.45e-06" iyz="0.0" izz="0.0"/>
    </inertial>
  </link>
  <link name="inner_leg_right_5">
    <visual>
      <geometry>
        <cylinder length="0.07" radius="0.004"/>
      </geometry>
      <material name="black"/>
    </visual>
    <collision>
      <geometry>
        <cylinder length="0.07" radius="0.004"/>
      </geometry>
    </collision>
    <inertial>
      <mass value="0.004"/>
      <inertia ixx="1.6333333333333337e-06" ixy="0.0" ixz="0.0" iyy="1.6333333333333337e-06" iyz="0.0" izz="0.0"/>
    </inertial>
  </link>
  <joint name="base_to_hip_right_5" type="fixed">
    <parent link="inner_outer_connector_right"/>
    <child link="hip_right_5"/>
    <origin rpy="0 3.9269908169872414 0" xyz="-0.049497474683058325 0 -0.049497474683058346"/>
  </joint>
  <!--
    <joint name="outer_to_center_leg_${prefix}" type="fixed">
       <parent link="outer_leg_${prefix}"/>
       <child link="center_leg_${prefix}"/>
       <origin xyz="0 0 0.02"/>
    </joint>
    <joint name="center_to_inner_leg_${prefix}" type="fixed">
       <parent link="center_leg_${prefix}"/>
       <child link="inner_leg_${prefix}"/>
       <origin xyz="0 0 0.02"/>
    </joint>
    -->
  <joint name="hip_to_outer_leg_right_5" type="prismatic">
    <axis xyz="0 0 1"/>
    <parent link="hip_right_5"/>
    <child link="outer_leg_right_5"/>
    <limit effort="200.0" lower="0.0" upper="0.07" velocity="0.1"/>
    <origin rpy="0 0 0" xyz="0 0 0"/>
    <dynamics damping="100.0" friction="200.0"/>
  </joint>
  <joint name="outer_to_center_leg_right_5" type="prismatic">
    <axis xyz="0 0 1"/>
    <parent link="outer_leg_right_5"/>
    <child link="center_leg_right_5"/>
    <limit effort="2000.0" lower="0.0" upper="0.07" velocity="0.1"/>
    <origin rpy="0 0 0" xyz="0 0 0"/>
    <dynamics damping="100.0" friction="200.0"/>
  </joint>
  <joint name="center_to_inner_leg_right_5" type="prismatic">
    <axis xyz="0 0 1"/>
    <parent link="center_leg_right_5"/>
    <child link="inner_leg_right_5"/>
    <limit effort="2000.0" lower="0.0" upper="0.07" velocity="0.1"/>
    <origin rpy="0 0 0" xyz="0 0 0"/>
    <dynamics damping="100.0" friction="200.0"/>
  </joint>
  <!--transmission name="base_to_hip_${prefix}">
      <type>transmission_interface/SimpleTransmission</type>
      <actuator name="$base_to_hip_${prefix}">
        <mechanicalReduction>1</mechanicalReduction>
      </actuator>
      <joint name="base_to_hip_${prefix}">
        <hardwareInterface>hardware_interface/VelocityJointInterface</hardwareInterface>
      </joint>
    </transmission-->
  <transmission name="outer_leg_extension_right_5_trans" type="SimpleTransmission">
    <type>transmission_interface/SimpleTransmission</type>
    <actuator name="outer_leg_extension_right_5_motor">
      <hardwareInterface>hardware_interface/PositionJointInterface</hardwareInterface>
      <mechanicalReduction>1</mechanicalReduction>
    </actuator>
    <joint name="hip_to_outer_leg_right_5">
      <hardwareInterface>hardware_interface/PositionJointInterface</hardwareInterface>
    </joint>
  </transmission>
  <transmission name="center_leg_extension_right_5_trans" type="SimpleTransmission">
    <type>transmission_interface/SimpleTransmission</type>
    <actuator name="center_leg_extension_right_5_motor">
      <hardwareInterface>hardware_interface/PositionJointInterface</hardwareInterface>
      <mechanicalReduction>1</mechanicalReduction>
    </actuator>
    <joint name="outer_to_center_leg_right_5">
      <hardwareInterface>hardware_interface/PositionJointInterface</hardwareInterface>
    </joint>
  </transmission>
  <transmission name="inner_leg_extension_right_5_trans" type="SimpleTransmission">
    <type>transmission_interface/SimpleTransmission</type>
    <actuator name="inner_leg_extension_right_5_motor">
      <hardwareInterface>hardware_interface/PositionJointInterface</hardwareInterface>
      <mechanicalReduction>1</mechanicalReduction>
    </actuator>
    <joint name="center_to_inner_leg_right_5">
      <hardwareInterface>hardware_interface/PositionJointInterface</hardwareInterface>
    </joint>
  </transmission>
  <link name="hip_right_7">
    <visual>
      <geometry>
        <cylinder length="0.07" radius="0.01"/>
      </geometry>
      <material name="black"/>
    </visual>
    <collision>
      <geometry>
        <cylinder length="0.07" radius="0.01"/>
      </geometry>
    </collision>
    <inertial>
      <mass value="0.01"/>
      <inertia ixx="4.083333333333334e-06" ixy="0.0" ixz="0.0" iyy="0.0" iyz="0.0" izz="4.083333333333334e-06"/>
    </inertial>
  </link>
  <link name="outer_leg_right_7">
    <visual>
      <geometry>
        <cylinder length="0.07" radius="0.008"/>
      </geometry>
      <material name="black"/>
    </visual>
    <collision>
      <geometry>
        <cylinder length="0.07" radius="0.008"/>
      </geometry>
    </collision>
    <inertial>
      <mass value="0.008"/>
      <inertia ixx="3.2666666666666674e-06" ixy="0.0" ixz="0.0" iyy="0.0" iyz="0.0" izz="3.2666666666666674e-06"/>
    </inertial>
  </link>
  <link name="center_leg_right_7">
    <visual>
      <geometry>
        <cylinder length="0.07" radius="0.006"/>
      </geometry>
      <material name="black"/>
    </visual>
    <collision>
      <geometry>
        <cylinder length="0.07" radius="0.006"/>
      </geometry>
    </collision>
    <inertial>
      <mass value="0.006"/>
      <inertia ixx="2.45e-06" ixy="0.0" ixz="0.0" iyy="2.45e-06" iyz="0.0" izz="0.0"/>
    </inertial>
  </link>
  <link name="inner_leg_right_7">
    <visual>
      <geometry>
        <cylinder length="0.07" radius="0.004"/>
      </geometry>
      <material name="black"/>
    </visual>
    <collision>
      <geometry>
        <cylinder length="0.07" radius="0.004"/>
      </geometry>
    </collision>
    <inertial>
      <mass value="0.004"/>
      <inertia ixx="1.6333333333333337e-06" ixy="0.0" ixz="0.0" iyy="1.6333333333333337e-06" iyz="0.0" izz="0.0"/>
    </inertial>
  </link>
  <joint name="base_to_hip_right_7" type="fixed">
    <parent link="inner_outer_connector_right"/>
    <child link="hip_right_7"/>
    <origin rpy="0 5.497787143782138 0" xyz="-0.049497474683058346 0 0.04949747468305832"/>
  </joint>
  <!--
    <joint name="outer_to_center_leg_${prefix}" type="fixed">
       <parent link="outer_leg_${prefix}"/>
       <child link="center_leg_${prefix}"/>
       <origin xyz="0 0 0.02"/>
    </joint>
    <joint name="center_to_inner_leg_${prefix}" type="fixed">
       <parent link="center_leg_${prefix}"/>
       <child link="inner_leg_${prefix}"/>
       <origin xyz="0 0 0.02"/>
    </joint>
    -->
  <joint name="hip_to_outer_leg_right_7" type="prismatic">
    <axis xyz="0 0 1"/>
    <parent link="hip_right_7"/>
    <child link="outer_leg_right_7"/>
    <limit effort="200.0" lower="0.0" upper="0.07" velocity="0.1"/>
    <origin rpy="0 0 0" xyz="0 0 0"/>
    <dynamics damping="100.0" friction="200.0"/>
  </joint>
  <joint name="outer_to_center_leg_right_7" type="prismatic">
    <axis xyz="0 0 1"/>
    <parent link="outer_leg_right_7"/>
    <child link="center_leg_right_7"/>
    <limit effort="2000.0" lower="0.0" upper="0.07" velocity="0.1"/>
    <origin rpy="0 0 0" xyz="0 0 0"/>
    <dynamics damping="100.0" friction="200.0"/>
  </joint>
  <joint name="center_to_inner_leg_right_7" type="prismatic">
    <axis xyz="0 0 1"/>
    <parent link="center_leg_right_7"/>
    <child link="inner_leg_right_7"/>
    <limit effort="2000.0" lower="0.0" upper="0.07" velocity="0.1"/>
    <origin rpy="0 0 0" xyz="0 0 0"/>
    <dynamics damping="100.0" friction="200.0"/>
  </joint>
  <!--transmission name="base_to_hip_${prefix}">
      <type>transmission_interface/SimpleTransmission</type>
      <actuator name="$base_to_hip_${prefix}">
        <mechanicalReduction>1</mechanicalReduction>
      </actuator>
      <joint name="base_to_hip_${prefix}">
        <hardwareInterface>hardware_interface/VelocityJointInterface</hardwareInterface>
      </joint>
    </transmission-->
  <transmission name="outer_leg_extension_right_7_trans" type="SimpleTransmission">
    <type>transmission_interface/SimpleTransmission</type>
    <actuator name="outer_leg_extension_right_7_motor">
      <hardwareInterface>hardware_interface/PositionJointInterface</hardwareInterface>
      <mechanicalReduction>1</mechanicalReduction>
    </actuator>
    <joint name="hip_to_outer_leg_right_7">
      <hardwareInterface>hardware_interface/PositionJointInterface</hardwareInterface>
    </joint>
  </transmission>
  <transmission name="center_leg_extension_right_7_trans" type="SimpleTransmission">
    <type>transmission_interface/SimpleTransmission</type>
    <actuator name="center_leg_extension_right_7_motor">
      <hardwareInterface>hardware_interface/PositionJointInterface</hardwareInterface>
      <mechanicalReduction>1</mechanicalReduction>
    </actuator>
    <joint name="outer_to_center_leg_right_7">
      <hardwareInterface>hardware_interface/PositionJointInterface</hardwareInterface>
    </joint>
  </transmission>
  <transmission name="inner_leg_extension_right_7_trans" type="SimpleTransmission">
    <type>transmission_interface/SimpleTransmission</type>
    <actuator name="inner_leg_extension_right_7_motor">
      <hardwareInterface>hardware_interface/PositionJointInterface</hardwareInterface>
      <mechanicalReduction>1</mechanicalReduction>
    </actuator>
    <joint name="center_to_inner_leg_right_7">
      <hardwareInterface>hardware_interface/PositionJointInterface</hardwareInterface>
    </joint>
  </transmission>
  <link name="hip_left_0">
    <visual>
      <geometry>
        <cylinder length="0.07" radius="0.01"/>
      </geometry>
      <material name="black"/>
    </visual>
    <collision>
      <geometry>
        <cylinder length="0.07" radius="0.01"/>
      </geometry>
    </collision>
    <inertial>
      <mass value="0.01"/>
      <inertia ixx="4.083333333333334e-06" ixy="0.0" ixz="0.0" iyy="0.0" iyz="0.0" izz="4.083333333333334e-06"/>
    </inertial>
  </link>
  <link name="outer_leg_left_0">
    <visual>
      <geometry>
        <cylinder length="0.07" radius="0.008"/>
      </geometry>
      <material name="black"/>
    </visual>
    <collision>
      <geometry>
        <cylinder length="0.07" radius="0.008"/>
      </geometry>
    </collision>
    <inertial>
      <mass value="0.008"/>
      <inertia ixx="3.2666666666666674e-06" ixy="0.0" ixz="0.0" iyy="0.0" iyz="0.0" izz="3.2666666666666674e-06"/>
    </inertial>
  </link>
  <link name="center_leg_left_0">
    <visual>
      <geometry>
        <cylinder length="0.07" radius="0.006"/>
      </geometry>
      <material name="black"/>
    </visual>
    <collision>
      <geometry>
        <cylinder length="0.07" radius="0.006"/>
      </geometry>
    </collision>
    <inertial>
      <mass value="0.006"/>
      <inertia ixx="2.45e-06" ixy="0.0" ixz="0.0" iyy="2.45e-06" iyz="0.0" izz="0.0"/>
    </inertial>
  </link>
  <link name="inner_leg_left_0">
    <visual>
      <geometry>
        <cylinder length="0.07" radius="0.004"/>
      </geometry>
      <material name="black"/>
    </visual>
    <collision>
      <geometry>
        <cylinder length="0.07" radius="0.004"/>
      </geometry>
    </collision>
    <inertial>
      <mass value="0.004"/>
      <inertia ixx="1.6333333333333337e-06" ixy="0.0" ixz="0.0" iyy="1.6333333333333337e-06" iyz="0.0" izz="0.0"/>
    </inertial>
  </link>
  <joint name="base_to_hip_left_0" type="fixed">
    <parent link="inner_outer_connector_left"/>
    <child link="hip_left_0"/>
    <origin rpy="0 0.0 0" xyz="0.0 0 0.07"/>
  </joint>
  <!--
    <joint name="outer_to_center_leg_${prefix}" type="fixed">
       <parent link="outer_leg_${prefix}"/>
       <child link="center_leg_${prefix}"/>
       <origin xyz="0 0 0.02"/>
    </joint>
    <joint name="center_to_inner_leg_${prefix}" type="fixed">
       <parent link="center_leg_${prefix}"/>
       <child link="inner_leg_${prefix}"/>
       <origin xyz="0 0 0.02"/>
    </joint>
    -->
  <joint name="hip_to_outer_leg_left_0" type="prismatic">
    <axis xyz="0 0 1"/>
    <parent link="hip_left_0"/>
    <child link="outer_leg_left_0"/>
    <limit effort="200.0" lower="0.0" upper="0.07" velocity="0.1"/>
    <origin rpy="0 0 0" xyz="0 0 0"/>
    <dynamics damping="100.0" friction="200.0"/>
  </joint>
  <joint name="outer_to_center_leg_left_0" type="prismatic">
    <axis xyz="0 0 1"/>
    <parent link="outer_leg_left_0"/>
    <child link="center_leg_left_0"/>
    <limit effort="2000.0" lower="0.0" upper="0.07" velocity="0.1"/>
    <origin rpy="0 0 0" xyz="0 0 0"/>
    <dynamics damping="100.0" friction="200.0"/>
  </joint>
  <joint name="center_to_inner_leg_left_0" type="prismatic">
    <axis xyz="0 0 1"/>
    <parent link="center_leg_left_0"/>
    <child link="inner_leg_left_0"/>
    <limit effort="2000.0" lower="0.0" upper="0.07" velocity="0.1"/>
    <origin rpy="0 0 0" xyz="0 0 0"/>
    <dynamics damping="100.0" friction="200.0"/>
  </joint>
  <!--transmission name="base_to_hip_${prefix}">
      <type>transmission_interface/SimpleTransmission</type>
      <actuator name="$base_to_hip_${prefix}">
        <mechanicalReduction>1</mechanicalReduction>
      </actuator>
      <joint name="base_to_hip_${prefix}">
        <hardwareInterface>hardware_interface/VelocityJointInterface</hardwareInterface>
      </joint>
    </transmission-->
  <transmission name="outer_leg_extension_left_0_trans" type="SimpleTransmission">
    <type>transmission_interface/SimpleTransmission</type>
    <actuator name="outer_leg_extension_left_0_motor">
      <hardwareInterface>hardware_interface/PositionJointInterface</hardwareInterface>
      <mechanicalReduction>1</mechanicalReduction>
    </actuator>
    <joint name="hip_to_outer_leg_left_0">
      <hardwareInterface>hardware_interface/PositionJointInterface</hardwareInterface>
    </joint>
  </transmission>
  <transmission name="center_leg_extension_left_0_trans" type="SimpleTransmission">
    <type>transmission_interface/SimpleTransmission</type>
    <actuator name="center_leg_extension_left_0_motor">
      <hardwareInterface>hardware_interface/PositionJointInterface</hardwareInterface>
      <mechanicalReduction>1</mechanicalReduction>
    </actuator>
    <joint name="outer_to_center_leg_left_0">
      <hardwareInterface>hardware_interface/PositionJointInterface</hardwareInterface>
    </joint>
  </transmission>
  <transmission name="inner_leg_extension_left_0_trans" type="SimpleTransmission">
    <type>transmission_interface/SimpleTransmission</type>
    <actuator name="inner_leg_extension_left_0_motor">
      <hardwareInterface>hardware_interface/PositionJointInterface</hardwareInterface>
      <mechanicalReduction>1</mechanicalReduction>
    </actuator>
    <joint name="center_to_inner_leg_left_0">
      <hardwareInterface>hardware_interface/PositionJointInterface</hardwareInterface>
    </joint>
  </transmission>
  <link name="hip_left_2">
    <visual>
      <geometry>
        <cylinder length="0.07" radius="0.01"/>
      </geometry>
      <material name="black"/>
    </visual>
    <collision>
      <geometry>
        <cylinder length="0.07" radius="0.01"/>
      </geometry>
    </collision>
    <inertial>
      <mass value="0.01"/>
      <inertia ixx="4.083333333333334e-06" ixy="0.0" ixz="0.0" iyy="0.0" iyz="0.0" izz="4.083333333333334e-06"/>
    </inertial>
  </link>
  <link name="outer_leg_left_2">
    <visual>
      <geometry>
        <cylinder length="0.07" radius="0.008"/>
      </geometry>
      <material name="black"/>
    </visual>
    <collision>
      <geometry>
        <cylinder length="0.07" radius="0.008"/>
      </geometry>
    </collision>
    <inertial>
      <mass value="0.008"/>
      <inertia ixx="3.2666666666666674e-06" ixy="0.0" ixz="0.0" iyy="0.0" iyz="0.0" izz="3.2666666666666674e-06"/>
    </inertial>
  </link>
  <link name="center_leg_left_2">
    <visual>
      <geometry>
        <cylinder length="0.07" radius="0.006"/>
      </geometry>
      <material name="black"/>
    </visual>
    <collision>
      <geometry>
        <cylinder length="0.07" radius="0.006"/>
      </geometry>
    </collision>
    <inertial>
      <mass value="0.006"/>
      <inertia ixx="2.45e-06" ixy="0.0" ixz="0.0" iyy="2.45e-06" iyz="0.0" izz="0.0"/>
    </inertial>
  </link>
  <link name="inner_leg_left_2">
    <visual>
      <geometry>
        <cylinder length="0.07" radius="0.004"/>
      </geometry>
      <material name="black"/>
    </visual>
    <collision>
      <geometry>
        <cylinder length="0.07" radius="0.004"/>
      </geometry>
    </collision>
    <inertial>
      <mass value="0.004"/>
      <inertia ixx="1.6333333333333337e-06" ixy="0.0" ixz="0.0" iyy="1.6333333333333337e-06" iyz="0.0" izz="0.0"/>
    </inertial>
  </link>
  <joint name="base_to_hip_left_2" type="fixed">
    <parent link="inner_outer_connector_left"/>
    <child link="hip_left_2"/>
    <origin rpy="0 1.5707963267948966 0" xyz="0.07 0 4.286263797015737e-18"/>
  </joint>
  <!--
    <joint name="outer_to_center_leg_${prefix}" type="fixed">
       <parent link="outer_leg_${prefix}"/>
       <child link="center_leg_${prefix}"/>
       <origin xyz="0 0 0.02"/>
    </joint>
    <joint name="center_to_inner_leg_${prefix}" type="fixed">
       <parent link="center_leg_${prefix}"/>
       <child link="inner_leg_${prefix}"/>
       <origin xyz="0 0 0.02"/>
    </joint>
    -->
  <joint name="hip_to_outer_leg_left_2" type="prismatic">
    <axis xyz="0 0 1"/>
    <parent link="hip_left_2"/>
    <child link="outer_leg_left_2"/>
    <limit effort="200.0" lower="0.0" upper="0.07" velocity="0.1"/>
    <origin rpy="0 0 0" xyz="0 0 0"/>
    <dynamics damping="100.0" friction="200.0"/>
  </joint>
  <joint name="outer_to_center_leg_left_2" type="prismatic">
    <axis xyz="0 0 1"/>
    <parent link="outer_leg_left_2"/>
    <child link="center_leg_left_2"/>
    <limit effort="2000.0" lower="0.0" upper="0.07" velocity="0.1"/>
    <origin rpy="0 0 0" xyz="0 0 0"/>
    <dynamics damping="100.0" friction="200.0"/>
  </joint>
  <joint name="center_to_inner_leg_left_2" type="prismatic">
    <axis xyz="0 0 1"/>
    <parent link="center_leg_left_2"/>
    <child link="inner_leg_left_2"/>
    <limit effort="2000.0" lower="0.0" upper="0.07" velocity="0.1"/>
    <origin rpy="0 0 0" xyz="0 0 0"/>
    <dynamics damping="100.0" friction="200.0"/>
  </joint>
  <!--transmission name="base_to_hip_${prefix}">
      <type>transmission_interface/SimpleTransmission</type>
      <actuator name="$base_to_hip_${prefix}">
        <mechanicalReduction>1</mechanicalReduction>
      </actuator>
      <joint name="base_to_hip_${prefix}">
        <hardwareInterface>hardware_interface/VelocityJointInterface</hardwareInterface>
      </joint>
    </transmission-->
  <transmission name="outer_leg_extension_left_2_trans" type="SimpleTransmission">
    <type>transmission_interface/SimpleTransmission</type>
    <actuator name="outer_leg_extension_left_2_motor">
      <hardwareInterface>hardware_interface/PositionJointInterface</hardwareInterface>
      <mechanicalReduction>1</mechanicalReduction>
    </actuator>
    <joint name="hip_to_outer_leg_left_2">
      <hardwareInterface>hardware_interface/PositionJointInterface</hardwareInterface>
    </joint>
  </transmission>
  <transmission name="center_leg_extension_left_2_trans" type="SimpleTransmission">
    <type>transmission_interface/SimpleTransmission</type>
    <actuator name="center_leg_extension_left_2_motor">
      <hardwareInterface>hardware_interface/PositionJointInterface</hardwareInterface>
      <mechanicalReduction>1</mechanicalReduction>
    </actuator>
    <joint name="outer_to_center_leg_left_2">
      <hardwareInterface>hardware_interface/PositionJointInterface</hardwareInterface>
    </joint>
  </transmission>
  <transmission name="inner_leg_extension_left_2_trans" type="SimpleTransmission">
    <type>transmission_interface/SimpleTransmission</type>
    <actuator name="inner_leg_extension_left_2_motor">
      <hardwareInterface>hardware_interface/PositionJointInterface</hardwareInterface>
      <mechanicalReduction>1</mechanicalReduction>
    </actuator>
    <joint name="center_to_inner_leg_left_2">
      <hardwareInterface>hardware_interface/PositionJointInterface</hardwareInterface>
    </joint>
  </transmission>
  <link name="hip_left_4">
    <visual>
      <geometry>
        <cylinder length="0.07" radius="0.01"/>
      </geometry>
      <material name="black"/>
    </visual>
    <collision>
      <geometry>
        <cylinder length="0.07" radius="0.01"/>
      </geometry>
    </collision>
    <inertial>
      <mass value="0.01"/>
      <inertia ixx="4.083333333333334e-06" ixy="0.0" ixz="0.0" iyy="0.0" iyz="0.0" izz="4.083333333333334e-06"/>
    </inertial>
  </link>
  <link name="outer_leg_left_4">
    <visual>
      <geometry>
        <cylinder length="0.07" radius="0.008"/>
      </geometry>
      <material name="black"/>
    </visual>
    <collision>
      <geometry>
        <cylinder length="0.07" radius="0.008"/>
      </geometry>
    </collision>
    <inertial>
      <mass value="0.008"/>
      <inertia ixx="3.2666666666666674e-06" ixy="0.0" ixz="0.0" iyy="0.0" iyz="0.0" izz="3.2666666666666674e-06"/>
    </inertial>
  </link>
  <link name="center_leg_left_4">
    <visual>
      <geometry>
        <cylinder length="0.07" radius="0.006"/>
      </geometry>
      <material name="black"/>
    </visual>
    <collision>
      <geometry>
        <cylinder length="0.07" radius="0.006"/>
      </geometry>
    </collision>
    <inertial>
      <mass value="0.006"/>
      <inertia ixx="2.45e-06" ixy="0.0" ixz="0.0" iyy="2.45e-06" iyz="0.0" izz="0.0"/>
    </inertial>
  </link>
  <link name="inner_leg_left_4">
    <visual>
      <geometry>
        <cylinder length="0.07" radius="0.004"/>
      </geometry>
      <material name="black"/>
    </visual>
    <collision>
      <geometry>
        <cylinder length="0.07" radius="0.004"/>
      </geometry>
    </collision>
    <inertial>
      <mass value="0.004"/>
      <inertia ixx="1.6333333333333337e-06" ixy="0.0" ixz="0.0" iyy="1.6333333333333337e-06" iyz="0.0" izz="0.0"/>
    </inertial>
  </link>
  <joint name="base_to_hip_left_4" type="fixed">
    <parent link="inner_outer_connector_left"/>
    <child link="hip_left_4"/>
    <origin rpy="0 3.141592653589793 0" xyz="8.572527594031473e-18 0 -0.07"/>
  </joint>
  <!--
    <joint name="outer_to_center_leg_${prefix}" type="fixed">
       <parent link="outer_leg_${prefix}"/>
       <child link="center_leg_${prefix}"/>
       <origin xyz="0 0 0.02"/>
    </joint>
    <joint name="center_to_inner_leg_${prefix}" type="fixed">
       <parent link="center_leg_${prefix}"/>
       <child link="inner_leg_${prefix}"/>
       <origin xyz="0 0 0.02"/>
    </joint>
    -->
  <joint name="hip_to_outer_leg_left_4" type="prismatic">
    <axis xyz="0 0 1"/>
    <parent link="hip_left_4"/>
    <child link="outer_leg_left_4"/>
    <limit effort="200.0" lower="0.0" upper="0.07" velocity="0.1"/>
    <origin rpy="0 0 0" xyz="0 0 0"/>
    <dynamics damping="100.0" friction="200.0"/>
  </joint>
  <joint name="outer_to_center_leg_left_4" type="prismatic">
    <axis xyz="0 0 1"/>
    <parent link="outer_leg_left_4"/>
    <child link="center_leg_left_4"/>
    <limit effort="2000.0" lower="0.0" upper="0.07" velocity="0.1"/>
    <origin rpy="0 0 0" xyz="0 0 0"/>
    <dynamics damping="100.0" friction="200.0"/>
  </joint>
  <joint name="center_to_inner_leg_left_4" type="prismatic">
    <axis xyz="0 0 1"/>
    <parent link="center_leg_left_4"/>
    <child link="inner_leg_left_4"/>
    <limit effort="2000.0" lower="0.0" upper="0.07" velocity="0.1"/>
    <origin rpy="0 0 0" xyz="0 0 0"/>
    <dynamics damping="100.0" friction="200.0"/>
  </joint>
  <!--transmission name="base_to_hip_${prefix}">
      <type>transmission_interface/SimpleTransmission</type>
      <actuator name="$base_to_hip_${prefix}">
        <mechanicalReduction>1</mechanicalReduction>
      </actuator>
      <joint name="base_to_hip_${prefix}">
        <hardwareInterface>hardware_interface/VelocityJointInterface</hardwareInterface>
      </joint>
    </transmission-->
  <transmission name="outer_leg_extension_left_4_trans" type="SimpleTransmission">
    <type>transmission_interface/SimpleTransmission</type>
    <actuator name="outer_leg_extension_left_4_motor">
      <hardwareInterface>hardware_interface/PositionJointInterface</hardwareInterface>
      <mechanicalReduction>1</mechanicalReduction>
    </actuator>
    <joint name="hip_to_outer_leg_left_4">
      <hardwareInterface>hardware_interface/PositionJointInterface</hardwareInterface>
    </joint>
  </transmission>
  <transmission name="center_leg_extension_left_4_trans" type="SimpleTransmission">
    <type>transmission_interface/SimpleTransmission</type>
    <actuator name="center_leg_extension_left_4_motor">
      <hardwareInterface>hardware_interface/PositionJointInterface</hardwareInterface>
      <mechanicalReduction>1</mechanicalReduction>
    </actuator>
    <joint name="outer_to_center_leg_left_4">
      <hardwareInterface>hardware_interface/PositionJointInterface</hardwareInterface>
    </joint>
  </transmission>
  <transmission name="inner_leg_extension_left_4_trans" type="SimpleTransmission">
    <type>transmission_interface/SimpleTransmission</type>
    <actuator name="inner_leg_extension_left_4_motor">
      <hardwareInterface>hardware_interface/PositionJointInterface</hardwareInterface>
      <mechanicalReduction>1</mechanicalReduction>
    </actuator>
    <joint name="center_to_inner_leg_left_4">
      <hardwareInterface>hardware_interface/PositionJointInterface</hardwareInterface>
    </joint>
  </transmission>
  <link name="hip_left_6">
    <visual>
      <geometry>
        <cylinder length="0.07" radius="0.01"/>
      </geometry>
      <material name="black"/>
    </visual>
    <collision>
      <geometry>
        <cylinder length="0.07" radius="0.01"/>
      </geometry>
    </collision>
    <inertial>
      <mass value="0.01"/>
      <inertia ixx="4.083333333333334e-06" ixy="0.0" ixz="0.0" iyy="0.0" iyz="0.0" izz="4.083333333333334e-06"/>
    </inertial>
  </link>
  <link name="outer_leg_left_6">
    <visual>
      <geometry>
        <cylinder length="0.07" radius="0.008"/>
      </geometry>
      <material name="black"/>
    </visual>
    <collision>
      <geometry>
        <cylinder length="0.07" radius="0.008"/>
      </geometry>
    </collision>
    <inertial>
      <mass value="0.008"/>
      <inertia ixx="3.2666666666666674e-06" ixy="0.0" ixz="0.0" iyy="0.0" iyz="0.0" izz="3.2666666666666674e-06"/>
    </inertial>
  </link>
  <link name="center_leg_left_6">
    <visual>
      <geometry>
        <cylinder length="0.07" radius="0.006"/>
      </geometry>
      <material name="black"/>
    </visual>
    <collision>
      <geometry>
        <cylinder length="0.07" radius="0.006"/>
      </geometry>
    </collision>
    <inertial>
      <mass value="0.006"/>
      <inertia ixx="2.45e-06" ixy="0.0" ixz="0.0" iyy="2.45e-06" iyz="0.0" izz="0.0"/>
    </inertial>
  </link>
  <link name="inner_leg_left_6">
    <visual>
      <geometry>
        <cylinder length="0.07" radius="0.004"/>
      </geometry>
      <material name="black"/>
    </visual>
    <collision>
      <geometry>
        <cylinder length="0.07" radius="0.004"/>
      </geometry>
    </collision>
    <inertial>
      <mass value="0.004"/>
      <inertia ixx="1.6333333333333337e-06" ixy="0.0" ixz="0.0" iyy="1.6333333333333337e-06" iyz="0.0" izz="0.0"/>
    </inertial>
  </link>
  <joint name="base_to_hip_left_6" type="fixed">
    <parent link="inner_outer_connector_left"/>
    <child link="hip_left_6"/>
    <origin rpy="0 4.71238898038469 0" xyz="-0.07 0 -1.285879139104721e-17"/>
  </joint>
  <!--
    <joint name="outer_to_center_leg_${prefix}" type="fixed">
       <parent link="outer_leg_${prefix}"/>
       <child link="center_leg_${prefix}"/>
       <origin xyz="0 0 0.02"/>
    </joint>
    <joint name="center_to_inner_leg_${prefix}" type="fixed">
       <parent link="center_leg_${prefix}"/>
       <child link="inner_leg_${prefix}"/>
       <origin xyz="0 0 0.02"/>
    </joint>
    -->
  <joint name="hip_to_outer_leg_left_6" type="prismatic">
    <axis xyz="0 0 1"/>
    <parent link="hip_left_6"/>
    <child link="outer_leg_left_6"/>
    <limit effort="200.0" lower="0.0" upper="0.07" velocity="0.1"/>
    <origin rpy="0 0 0" xyz="0 0 0"/>
    <dynamics damping="100.0" friction="200.0"/>
  </joint>
  <joint name="outer_to_center_leg_left_6" type="prismatic">
    <axis xyz="0 0 1"/>
    <parent link="outer_leg_left_6"/>
    <child link="center_leg_left_6"/>
    <limit effort="2000.0" lower="0.0" upper="0.07" velocity="0.1"/>
    <origin rpy="0 0 0" xyz="0 0 0"/>
    <dynamics damping="100.0" friction="200.0"/>
  </joint>
  <joint name="center_to_inner_leg_left_6" type="prismatic">
    <axis xyz="0 0 1"/>
    <parent link="center_leg_left_6"/>
    <child link="inner_leg_left_6"/>
    <limit effort="2000.0" lower="0.0" upper="0.07" velocity="0.1"/>
    <origin rpy="0 0 0" xyz="0 0 0"/>
    <dynamics damping="100.0" friction="200.0"/>
  </joint>
  <!--transmission name="base_to_hip_${prefix}">
      <type>transmission_interface/SimpleTransmission</type>
      <actuator name="$base_to_hip_${prefix}">
        <mechanicalReduction>1</mechanicalReduction>
      </actuator>
      <joint name="base_to_hip_${prefix}">
        <hardwareInterface>hardware_interface/VelocityJointInterface</hardwareInterface>
      </joint>
    </transmission-->
  <transmission name="outer_leg_extension_left_6_trans" type="SimpleTransmission">
    <type>transmission_interface/SimpleTransmission</type>
    <actuator name="outer_leg_extension_left_6_motor">
      <hardwareInterface>hardware_interface/PositionJointInterface</hardwareInterface>
      <mechanicalReduction>1</mechanicalReduction>
    </actuator>
    <joint name="hip_to_outer_leg_left_6">
      <hardwareInterface>hardware_interface/PositionJointInterface</hardwareInterface>
    </joint>
  </transmission>
  <transmission name="center_leg_extension_left_6_trans" type="SimpleTransmission">
    <type>transmission_interface/SimpleTransmission</type>
    <actuator name="center_leg_extension_left_6_motor">
      <hardwareInterface>hardware_interface/PositionJointInterface</hardwareInterface>
      <mechanicalReduction>1</mechanicalReduction>
    </actuator>
    <joint name="outer_to_center_leg_left_6">
      <hardwareInterface>hardware_interface/PositionJointInterface</hardwareInterface>
    </joint>
  </transmission>
  <transmission name="inner_leg_extension_left_6_trans" type="SimpleTransmission">
    <type>transmission_interface/SimpleTransmission</type>
    <actuator name="inner_leg_extension_left_6_motor">
      <hardwareInterface>hardware_interface/PositionJointInterface</hardwareInterface>
      <mechanicalReduction>1</mechanicalReduction>
    </actuator>
    <joint name="center_to_inner_leg_left_6">
      <hardwareInterface>hardware_interface/PositionJointInterface</hardwareInterface>
    </joint>
  </transmission>
  <link name="hip_left_1">
    <visual>
      <geometry>
        <cylinder length="0.07" radius="0.01"/>
      </geometry>
      <material name="black"/>
    </visual>
    <collision>
      <geometry>
        <cylinder length="0.07" radius="0.01"/>
      </geometry>
    </collision>
    <inertial>
      <mass value="0.01"/>
      <inertia ixx="4.083333333333334e-06" ixy="0.0" ixz="0.0" iyy="0.0" iyz="0.0" izz="4.083333333333334e-06"/>
    </inertial>
  </link>
  <link name="outer_leg_left_1">
    <visual>
      <geometry>
        <cylinder length="0.07" radius="0.008"/>
      </geometry>
      <material name="black"/>
    </visual>
    <collision>
      <geometry>
        <cylinder length="0.07" radius="0.008"/>
      </geometry>
    </collision>
    <inertial>
      <mass value="0.008"/>
      <inertia ixx="3.2666666666666674e-06" ixy="0.0" ixz="0.0" iyy="0.0" iyz="0.0" izz="3.2666666666666674e-06"/>
    </inertial>
  </link>
  <link name="center_leg_left_1">
    <visual>
      <geometry>
        <cylinder length="0.07" radius="0.006"/>
      </geometry>
      <material name="black"/>
    </visual>
    <collision>
      <geometry>
        <cylinder length="0.07" radius="0.006"/>
      </geometry>
    </collision>
    <inertial>
      <mass value="0.006"/>
      <inertia ixx="2.45e-06" ixy="0.0" ixz="0.0" iyy="2.45e-06" iyz="0.0" izz="0.0"/>
    </inertial>
  </link>
  <link name="inner_leg_left_1">
    <visual>
      <geometry>
        <cylinder length="0.07" radius="0.004"/>
      </geometry>
      <material name="black"/>
    </visual>
    <collision>
      <geometry>
        <cylinder length="0.07" radius="0.004"/>
      </geometry>
    </collision>
    <inertial>
      <mass value="0.004"/>
      <inertia ixx="1.6333333333333337e-06" ixy="0.0" ixz="0.0" iyy="1.6333333333333337e-06" iyz="0.0" izz="0.0"/>
    </inertial>
  </link>
  <joint name="base_to_hip_left_1" type="fixed">
    <parent link="inner_outer_connector_left"/>
    <child link="hip_left_1"/>
    <origin rpy="0 0.7853981633974483 0" xyz="0.049497474683058325 0 0.04949747468305833"/>
  </joint>
  <!--
    <joint name="outer_to_center_leg_${prefix}" type="fixed">
       <parent link="outer_leg_${prefix}"/>
       <child link="center_leg_${prefix}"/>
       <origin xyz="0 0 0.02"/>
    </joint>
    <joint name="center_to_inner_leg_${prefix}" type="fixed">
       <parent link="center_leg_${prefix}"/>
       <child link="inner_leg_${prefix}"/>
       <origin xyz="0 0 0.02"/>
    </joint>
    -->
  <joint name="hip_to_outer_leg_left_1" type="prismatic">
    <axis xyz="0 0 1"/>
    <parent link="hip_left_1"/>
    <child link="outer_leg_left_1"/>
    <limit effort="200.0" lower="0.0" upper="0.07" velocity="0.1"/>
    <origin rpy="0 0 0" xyz="0 0 0"/>
    <dynamics damping="100.0" friction="200.0"/>
  </joint>
  <joint name="outer_to_center_leg_left_1" type="prismatic">
    <axis xyz="0 0 1"/>
    <parent link="outer_leg_left_1"/>
    <child link="center_leg_left_1"/>
    <limit effort="2000.0" lower="0.0" upper="0.07" velocity="0.1"/>
    <origin rpy="0 0 0" xyz="0 0 0"/>
    <dynamics damping="100.0" friction="200.0"/>
  </joint>
  <joint name="center_to_inner_leg_left_1" type="prismatic">
    <axis xyz="0 0 1"/>
    <parent link="center_leg_left_1"/>
    <child link="inner_leg_left_1"/>
    <limit effort="2000.0" lower="0.0" upper="0.07" velocity="0.1"/>
    <origin rpy="0 0 0" xyz="0 0 0"/>
    <dynamics damping="100.0" friction="200.0"/>
  </joint>
  <!--transmission name="base_to_hip_${prefix}">
      <type>transmission_interface/SimpleTransmission</type>
      <actuator name="$base_to_hip_${prefix}">
        <mechanicalReduction>1</mechanicalReduction>
      </actuator>
      <joint name="base_to_hip_${prefix}">
        <hardwareInterface>hardware_interface/VelocityJointInterface</hardwareInterface>
      </joint>
    </transmission-->
  <transmission name="outer_leg_extension_left_1_trans" type="SimpleTransmission">
    <type>transmission_interface/SimpleTransmission</type>
    <actuator name="outer_leg_extension_left_1_motor">
      <hardwareInterface>hardware_interface/PositionJointInterface</hardwareInterface>
      <mechanicalReduction>1</mechanicalReduction>
    </actuator>
    <joint name="hip_to_outer_leg_left_1">
      <hardwareInterface>hardware_interface/PositionJointInterface</hardwareInterface>
    </joint>
  </transmission>
  <transmission name="center_leg_extension_left_1_trans" type="SimpleTransmission">
    <type>transmission_interface/SimpleTransmission</type>
    <actuator name="center_leg_extension_left_1_motor">
      <hardwareInterface>hardware_interface/PositionJointInterface</hardwareInterface>
      <mechanicalReduction>1</mechanicalReduction>
    </actuator>
    <joint name="outer_to_center_leg_left_1">
      <hardwareInterface>hardware_interface/PositionJointInterface</hardwareInterface>
    </joint>
  </transmission>
  <transmission name="inner_leg_extension_left_1_trans" type="SimpleTransmission">
    <type>transmission_interface/SimpleTransmission</type>
    <actuator name="inner_leg_extension_left_1_motor">
      <hardwareInterface>hardware_interface/PositionJointInterface</hardwareInterface>
      <mechanicalReduction>1</mechanicalReduction>
    </actuator>
    <joint name="center_to_inner_leg_left_1">
      <hardwareInterface>hardware_interface/PositionJointInterface</hardwareInterface>
    </joint>
  </transmission>
  <link name="hip_left_3">
    <visual>
      <geometry>
        <cylinder length="0.07" radius="0.01"/>
      </geometry>
      <material name="black"/>
    </visual>
    <collision>
      <geometry>
        <cylinder length="0.07" radius="0.01"/>
      </geometry>
    </collision>
    <inertial>
      <mass value="0.01"/>
      <inertia ixx="4.083333333333334e-06" ixy="0.0" ixz="0.0" iyy="0.0" iyz="0.0" izz="4.083333333333334e-06"/>
    </inertial>
  </link>
  <link name="outer_leg_left_3">
    <visual>
      <geometry>
        <cylinder length="0.07" radius="0.008"/>
      </geometry>
      <material name="black"/>
    </visual>
    <collision>
      <geometry>
        <cylinder length="0.07" radius="0.008"/>
      </geometry>
    </collision>
    <inertial>
      <mass value="0.008"/>
      <inertia ixx="3.2666666666666674e-06" ixy="0.0" ixz="0.0" iyy="0.0" iyz="0.0" izz="3.2666666666666674e-06"/>
    </inertial>
  </link>
  <link name="center_leg_left_3">
    <visual>
      <geometry>
        <cylinder length="0.07" radius="0.006"/>
      </geometry>
      <material name="black"/>
    </visual>
    <collision>
      <geometry>
        <cylinder length="0.07" radius="0.006"/>
      </geometry>
    </collision>
    <inertial>
      <mass value="0.006"/>
      <inertia ixx="2.45e-06" ixy="0.0" ixz="0.0" iyy="2.45e-06" iyz="0.0" izz="0.0"/>
    </inertial>
  </link>
  <link name="inner_leg_left_3">
    <visual>
      <geometry>
        <cylinder length="0.07" radius="0.004"/>
      </geometry>
      <material name="black"/>
    </visual>
    <collision>
      <geometry>
        <cylinder length="0.07" radius="0.004"/>
      </geometry>
    </collision>
    <inertial>
      <mass value="0.004"/>
      <inertia ixx="1.6333333333333337e-06" ixy="0.0" ixz="0.0" iyy="1.6333333333333337e-06" iyz="0.0" izz="0.0"/>
    </inertial>
  </link>
  <joint name="base_to_hip_left_3" type="fixed">
    <parent link="inner_outer_connector_left"/>
    <child link="hip_left_3"/>
    <origin rpy="0 2.356194490192345 0" xyz="0.04949747468305833 0 -0.049497474683058325"/>
  </joint>
  <!--
    <joint name="outer_to_center_leg_${prefix}" type="fixed">
       <parent link="outer_leg_${prefix}"/>
       <child link="center_leg_${prefix}"/>
       <origin xyz="0 0 0.02"/>
    </joint>
    <joint name="center_to_inner_leg_${prefix}" type="fixed">
       <parent link="center_leg_${prefix}"/>
       <child link="inner_leg_${prefix}"/>
       <origin xyz="0 0 0.02"/>
    </joint>
    -->
  <joint name="hip_to_outer_leg_left_3" type="prismatic">
    <axis xyz="0 0 1"/>
    <parent link="hip_left_3"/>
    <child link="outer_leg_left_3"/>
    <limit effort="200.0" lower="0.0" upper="0.07" velocity="0.1"/>
    <origin rpy="0 0 0" xyz="0 0 0"/>
    <dynamics damping="100.0" friction="200.0"/>
  </joint>
  <joint name="outer_to_center_leg_left_3" type="prismatic">
    <axis xyz="0 0 1"/>
    <parent link="outer_leg_left_3"/>
    <child link="center_leg_left_3"/>
    <limit effort="2000.0" lower="0.0" upper="0.07" velocity="0.1"/>
    <origin rpy="0 0 0" xyz="0 0 0"/>
    <dynamics damping="100.0" friction="200.0"/>
  </joint>
  <joint name="center_to_inner_leg_left_3" type="prismatic">
    <axis xyz="0 0 1"/>
    <parent link="center_leg_left_3"/>
    <child link="inner_leg_left_3"/>
    <limit effort="2000.0" lower="0.0" upper="0.07" velocity="0.1"/>
    <origin rpy="0 0 0" xyz="0 0 0"/>
    <dynamics damping="100.0" friction="200.0"/>
  </joint>
  <!--transmission name="base_to_hip_${prefix}">
      <type>transmission_interface/SimpleTransmission</type>
      <actuator name="$base_to_hip_${prefix}">
        <mechanicalReduction>1</mechanicalReduction>
      </actuator>
      <joint name="base_to_hip_${prefix}">
        <hardwareInterface>hardware_interface/VelocityJointInterface</hardwareInterface>
      </joint>
    </transmission-->
  <transmission name="outer_leg_extension_left_3_trans" type="SimpleTransmission">
    <type>transmission_interface/SimpleTransmission</type>
    <actuator name="outer_leg_extension_left_3_motor">
      <hardwareInterface>hardware_interface/PositionJointInterface</hardwareInterface>
      <mechanicalReduction>1</mechanicalReduction>
    </actuator>
    <joint name="hip_to_outer_leg_left_3">
      <hardwareInterface>hardware_interface/PositionJointInterface</hardwareInterface>
    </joint>
  </transmission>
  <transmission name="center_leg_extension_left_3_trans" type="SimpleTransmission">
    <type>transmission_interface/SimpleTransmission</type>
    <actuator name="center_leg_extension_left_3_motor">
      <hardwareInterface>hardware_interface/PositionJointInterface</hardwareInterface>
      <mechanicalReduction>1</mechanicalReduction>
    </actuator>
    <joint name="outer_to_center_leg_left_3">
      <hardwareInterface>hardware_interface/PositionJointInterface</hardwareInterface>
    </joint>
  </transmission>
  <transmission name="inner_leg_extension_left_3_trans" type="SimpleTransmission">
    <type>transmission_interface/SimpleTransmission</type>
    <actuator name="inner_leg_extension_left_3_motor">
      <hardwareInterface>hardware_interface/PositionJointInterface</hardwareInterface>
      <mechanicalReduction>1</mechanicalReduction>
    </actuator>
    <joint name="center_to_inner_leg_left_3">
      <hardwareInterface>hardware_interface/PositionJointInterface</hardwareInterface>
    </joint>
  </transmission>
  <link name="hip_left_5">
    <visual>
      <geometry>
        <cylinder length="0.07" radius="0.01"/>
      </geometry>
      <material name="black"/>
    </visual>
    <collision>
      <geometry>
        <cylinder length="0.07" radius="0.01"/>
      </geometry>
    </collision>
    <inertial>
      <mass value="0.01"/>
      <inertia ixx="4.083333333333334e-06" ixy="0.0" ixz="0.0" iyy="0.0" iyz="0.0" izz="4.083333333333334e-06"/>
    </inertial>
  </link>
  <link name="outer_leg_left_5">
    <visual>
      <geometry>
        <cylinder length="0.07" radius="0.008"/>
      </geometry>
      <material name="black"/>
    </visual>
    <collision>
      <geometry>
        <cylinder length="0.07" radius="0.008"/>
      </geometry>
    </collision>
    <inertial>
      <mass value="0.008"/>
      <inertia ixx="3.2666666666666674e-06" ixy="0.0" ixz="0.0" iyy="0.0" iyz="0.0" izz="3.2666666666666674e-06"/>
    </inertial>
  </link>
  <link name="center_leg_left_5">
    <visual>
      <geometry>
        <cylinder length="0.07" radius="0.006"/>
      </geometry>
      <material name="black"/>
    </visual>
    <collision>
      <geometry>
        <cylinder length="0.07" radius="0.006"/>
      </geometry>
    </collision>
    <inertial>
      <mass value="0.006"/>
      <inertia ixx="2.45e-06" ixy="0.0" ixz="0.0" iyy="2.45e-06" iyz="0.0" izz="0.0"/>
    </inertial>
  </link>
  <link name="inner_leg_left_5">
    <visual>
      <geometry>
        <cylinder length="0.07" radius="0.004"/>
      </geometry>
      <material name="black"/>
    </visual>
    <collision>
      <geometry>
        <cylinder length="0.07" radius="0.004"/>
      </geometry>
    </collision>
    <inertial>
      <mass value="0.004"/>
      <inertia ixx="1.6333333333333337e-06" ixy="0.0" ixz="0.0" iyy="1.6333333333333337e-06" iyz="0.0" izz="0.0"/>
    </inertial>
  </link>
  <joint name="base_to_hip_left_5" type="fixed">
    <parent link="inner_outer_connector_left"/>
    <child link="hip_left_5"/>
    <origin rpy="0 3.9269908169872414 0" xyz="-0.049497474683058325 0 -0.049497474683058346"/>
  </joint>
  <!--
    <joint name="outer_to_center_leg_${prefix}" type="fixed">
       <parent link="outer_leg_${prefix}"/>
       <child link="center_leg_${prefix}"/>
       <origin xyz="0 0 0.02"/>
    </joint>
    <joint name="center_to_inner_leg_${prefix}" type="fixed">
       <parent link="center_leg_${prefix}"/>
       <child link="inner_leg_${prefix}"/>
       <origin xyz="0 0 0.02"/>
    </joint>
    -->
  <joint name="hip_to_outer_leg_left_5" type="prismatic">
    <axis xyz="0 0 1"/>
    <parent link="hip_left_5"/>
    <child link="outer_leg_left_5"/>
    <limit effort="200.0" lower="0.0" upper="0.07" velocity="0.1"/>
    <origin rpy="0 0 0" xyz="0 0 0"/>
    <dynamics damping="100.0" friction="200.0"/>
  </joint>
  <joint name="outer_to_center_leg_left_5" type="prismatic">
    <axis xyz="0 0 1"/>
    <parent link="outer_leg_left_5"/>
    <child link="center_leg_left_5"/>
    <limit effort="2000.0" lower="0.0" upper="0.07" velocity="0.1"/>
    <origin rpy="0 0 0" xyz="0 0 0"/>
    <dynamics damping="100.0" friction="200.0"/>
  </joint>
  <joint name="center_to_inner_leg_left_5" type="prismatic">
    <axis xyz="0 0 1"/>
    <parent link="center_leg_left_5"/>
    <child link="inner_leg_left_5"/>
    <limit effort="2000.0" lower="0.0" upper="0.07" velocity="0.1"/>
    <origin rpy="0 0 0" xyz="0 0 0"/>
    <dynamics damping="100.0" friction="200.0"/>
  </joint>
  <!--transmission name="base_to_hip_${prefix}">
      <type>transmission_interface/SimpleTransmission</type>
      <actuator name="$base_to_hip_${prefix}">
        <mechanicalReduction>1</mechanicalReduction>
      </actuator>
      <joint name="base_to_hip_${prefix}">
        <hardwareInterface>hardware_interface/VelocityJointInterface</hardwareInterface>
      </joint>
    </transmission-->
  <transmission name="outer_leg_extension_left_5_trans" type="SimpleTransmission">
    <type>transmission_interface/SimpleTransmission</type>
    <actuator name="outer_leg_extension_left_5_motor">
      <hardwareInterface>hardware_interface/PositionJointInterface</hardwareInterface>
      <mechanicalReduction>1</mechanicalReduction>
    </actuator>
    <joint name="hip_to_outer_leg_left_5">
      <hardwareInterface>hardware_interface/PositionJointInterface</hardwareInterface>
    </joint>
  </transmission>
  <transmission name="center_leg_extension_left_5_trans" type="SimpleTransmission">
    <type>transmission_interface/SimpleTransmission</type>
    <actuator name="center_leg_extension_left_5_motor">
      <hardwareInterface>hardware_interface/PositionJointInterface</hardwareInterface>
      <mechanicalReduction>1</mechanicalReduction>
    </actuator>
    <joint name="outer_to_center_leg_left_5">
      <hardwareInterface>hardware_interface/PositionJointInterface</hardwareInterface>
    </joint>
  </transmission>
  <transmission name="inner_leg_extension_left_5_trans" type="SimpleTransmission">
    <type>transmission_interface/SimpleTransmission</type>
    <actuator name="inner_leg_extension_left_5_motor">
      <hardwareInterface>hardware_interface/PositionJointInterface</hardwareInterface>
      <mechanicalReduction>1</mechanicalReduction>
    </actuator>
    <joint name="center_to_inner_leg_left_5">
      <hardwareInterface>hardware_interface/PositionJointInterface</hardwareInterface>
    </joint>
  </transmission>
  <link name="hip_left_7">
    <visual>
      <geometry>
        <cylinder length="0.07" radius="0.01"/>
      </geometry>
      <material name="black"/>
    </visual>
    <collision>
      <geometry>
        <cylinder length="0.07" radius="0.01"/>
      </geometry>
    </collision>
    <inertial>
      <mass value="0.01"/>
      <inertia ixx="4.083333333333334e-06" ixy="0.0" ixz="0.0" iyy="0.0" iyz="0.0" izz="4.083333333333334e-06"/>
    </inertial>
  </link>
  <link name="outer_leg_left_7">
    <visual>
      <geometry>
        <cylinder length="0.07" radius="0.008"/>
      </geometry>
      <material name="black"/>
    </visual>
    <collision>
      <geometry>
        <cylinder length="0.07" radius="0.008"/>
      </geometry>
    </collision>
    <inertial>
      <mass value="0.008"/>
      <inertia ixx="3.2666666666666674e-06" ixy="0.0" ixz="0.0" iyy="0.0" iyz="0.0" izz="3.2666666666666674e-06"/>
    </inertial>
  </link>
  <link name="center_leg_left_7">
    <visual>
      <geometry>
        <cylinder length="0.07" radius="0.006"/>
      </geometry>
      <material name="black"/>
    </visual>
    <collision>
      <geometry>
        <cylinder length="0.07" radius="0.006"/>
      </geometry>
    </collision>
    <inertial>
      <mass value="0.006"/>
      <inertia ixx="2.45e-06" ixy="0.0" ixz="0.0" iyy="2.45e-06" iyz="0.0" izz="0.0"/>
    </inertial>
  </link>
  <link name="inner_leg_left_7">
    <visual>
      <geometry>
        <cylinder length="0.07" radius="0.004"/>
      </geometry>
      <material name="black"/>
    </visual>
    <collision>
      <geometry>
        <cylinder length="0.07" radius="0.004"/>
      </geometry>
    </collision>
    <inertial>
      <mass value="0.004"/>
      <inertia ixx="1.6333333333333337e-06" ixy="0.0" ixz="0.0" iyy="1.6333333333333337e-06" iyz="0.0" izz="0.0"/>
    </inertial>
  </link>
  <joint name="base_to_hip_left_7" type="fixed">
    <parent link="inner_outer_connector_left"/>
    <child link="hip_left_7"/>
    <origin rpy="0 5.497787143782138 0" xyz="-0.049497474683058346 0 0.04949747468305832"/>
  </joint>
  <!--
    <joint name="outer_to_center_leg_${prefix}" type="fixed">
       <parent link="outer_leg_${prefix}"/>
       <child link="center_leg_${prefix}"/>
       <origin xyz="0 0 0.02"/>
    </joint>
    <joint name="center_to_inner_leg_${prefix}" type="fixed">
       <parent link="center_leg_${prefix}"/>
       <child link="inner_leg_${prefix}"/>
       <origin xyz="0 0 0.02"/>
    </joint>
    -->
  <joint name="hip_to_outer_leg_left_7" type="prismatic">
    <axis xyz="0 0 1"/>
    <parent link="hip_left_7"/>
    <child link="outer_leg_left_7"/>
    <limit effort="200.0" lower="0.0" upper="0.07" velocity="0.1"/>
    <origin rpy="0 0 0" xyz="0 0 0"/>
    <dynamics damping="100.0" friction="200.0"/>
  </joint>
  <joint name="outer_to_center_leg_left_7" type="prismatic">
    <axis xyz="0 0 1"/>
    <parent link="outer_leg_left_7"/>
    <child link="center_leg_left_7"/>
    <limit effort="2000.0" lower="0.0" upper="0.07" velocity="0.1"/>
    <origin rpy="0 0 0" xyz="0 0 0"/>
    <dynamics damping="100.0" friction="200.0"/>
  </joint>
  <joint name="center_to_inner_leg_left_7" type="prismatic">
    <axis xyz="0 0 1"/>
    <parent link="center_leg_left_7"/>
    <child link="inner_leg_left_7"/>
    <limit effort="2000.0" lower="0.0" upper="0.07" velocity="0.1"/>
    <origin rpy="0 0 0" xyz="0 0 0"/>
    <dynamics damping="100.0" friction="200.0"/>
  </joint>
  <!--transmission name="base_to_hip_${prefix}">
      <type>transmission_interface/SimpleTransmission</type>
      <actuator name="$base_to_hip_${prefix}">
        <mechanicalReduction>1</mechanicalReduction>
      </actuator>
      <joint name="base_to_hip_${prefix}">
        <hardwareInterface>hardware_interface/VelocityJointInterface</hardwareInterface>
      </joint>
    </transmission-->
  <transmission name="outer_leg_extension_left_7_trans" type="SimpleTransmission">
    <type>transmission_interface/SimpleTransmission</type>
    <actuator name="outer_leg_extension_left_7_motor">
      <hardwareInterface>hardware_interface/PositionJointInterface</hardwareInterface>
      <mechanicalReduction>1</mechanicalReduction>
    </actuator>
    <joint name="hip_to_outer_leg_left_7">
      <hardwareInterface>hardware_interface/PositionJointInterface</hardwareInterface>
    </joint>
  </transmission>
  <transmission name="center_leg_extension_left_7_trans" type="SimpleTransmission">
    <type>transmission_interface/SimpleTransmission</type>
    <actuator name="center_leg_extension_left_7_motor">
      <hardwareInterface>hardware_interface/PositionJointInterface</hardwareInterface>
      <mechanicalReduction>1</mechanicalReduction>
    </actuator>
    <joint name="outer_to_center_leg_left_7">
      <hardwareInterface>hardware_interface/PositionJointInterface</hardwareInterface>
    </joint>
  </transmission>
  <transmission name="inner_leg_extension_left_7_trans" type="SimpleTransmission">
    <type>transmission_interface/SimpleTransmission</type>
    <actuator name="inner_leg_extension_left_7_motor">
      <hardwareInterface>hardware_interface/PositionJointInterface</hardwareInterface>
      <mechanicalReduction>1</mechanicalReduction>
    </actuator>
    <joint name="center_to_inner_leg_left_7">
      <hardwareInterface>hardware_interface/PositionJointInterface</hardwareInterface>
    </joint>
  </transmission>
  <!--
  -->
  <gazebo>
    <plugin filename="libgazebo_ros_control.so" name="gazebo_ros_control">
      <robotNamespace>/</robotNamespace>
    </plugin>
  </gazebo>
  <link name="imu_link">
    <visual>
      <geometry>
        <!--cylinder radius="0.12" length="0.4"/-->
        <box size=".01 .01 .01"/>
      </geometry>
      <origin rpy="1.5707963267948966 0 0" xyz="0 0 0"/>
      <material name="blue"/>
    </visual>
  </link>
  <joint name="imu_joint" type="fixed">
    <parent link="baseplate"/>
    <child link="imu_link"/>
    <origin rpy="0 0 0" xyz="0 0 .05"/>
  </joint>
  <gazebo reference="imu_link">
    <gravity>true</gravity>
    <sensor name="imu_sensor" type="imu">
      <always_on>true</always_on>
      <update_rate>100</update_rate>
      <visualize>true</visualize>
      <topic>__default_topic__</topic>
      <plugin filename="libgazebo_ros_imu_sensor.so" name="imu_plugin">
        <topicName>imu</topicName>
        <bodyName>imu_link</bodyName>
        <updateRateHZ>2.0</updateRateHZ>
        <gaussianNoise>0.0</gaussianNoise>
        <xyzOffset>0 0 0</xyzOffset>
        <rpyOffset>0 0 0</rpyOffset>
        <frameName>imu_link</frameName>
        <initialOrientationAsReference>false</initialOrientationAsReference>
      </plugin>
      <pose>0 0 0 0 0 0</pose>
    </sensor>
  </gazebo>
</robot>
